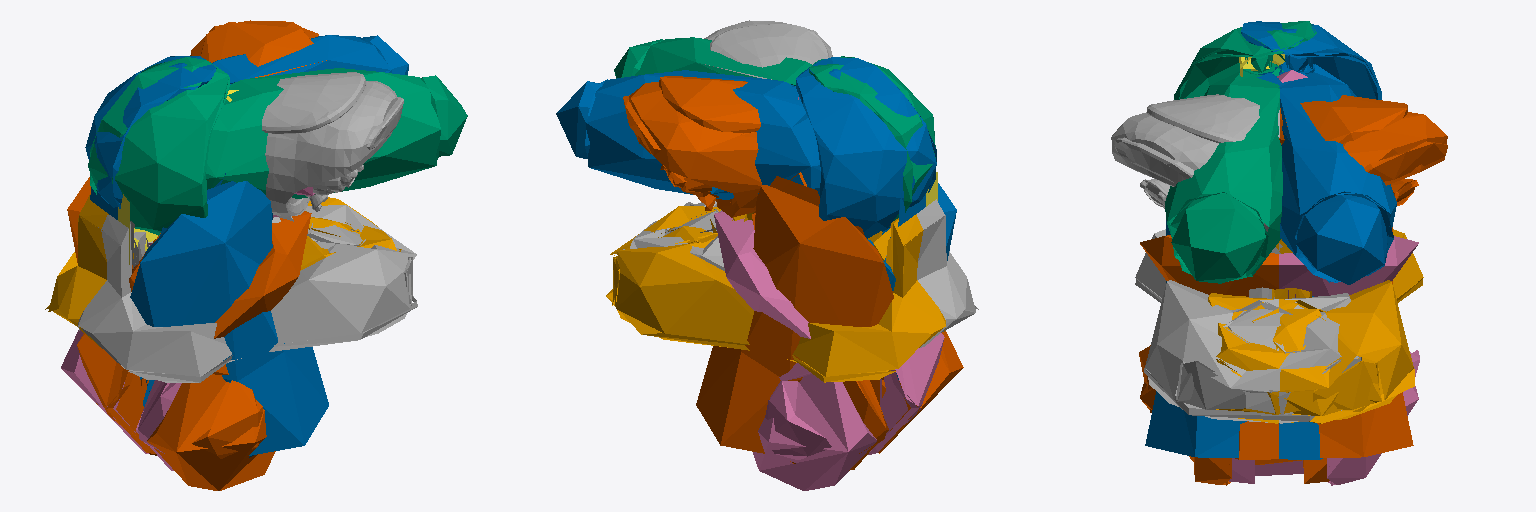
--- Facts derived from the render (not from the file) ---
3 views of the same robot in one strip: view 1: azimuth 30°, elevation 25°; view 2: azimuth 150°, elevation 25°; view 3: azimuth 270°, elevation 25° (orthographic).
Robot: NaoH25V50 — 79 links, 78 joints (26 revolute, 16 continuous, 36 fixed); root link base_link; default pose: joints at zero except 2 at the middle of their limits (LElbowRoll = -0.7898, RElbowRoll = 0.7898).
Links seen in each view (by area): view 1: RBicep, r_ankle, RThigh, RTibia, l_wrist, LBicep, l_ankle, r_wrist, LTibia, LThigh; view 2: LBicep, l_ankle, LThigh, LTibia, r_wrist, RBicep, r_ankle, l_wrist, RTibia, RThigh; view 3: LBicep, RBicep, r_ankle, l_ankle, l_wrist, r_wrist, LTibia, RThigh, LThigh, RTibia.
Boxes of the visible links, <box> form: RBicep: <box>88,57,467,235</box>; r_ankle: <box>78,205,417,382</box>; RThigh: <box>130,173,328,457</box>; RTibia: <box>77,211,311,490</box>; l_wrist: <box>262,72,403,216</box>; LBicep: <box>85,35,408,208</box>; l_ankle: <box>45,194,401,346</box>; r_wrist: <box>190,20,326,77</box>; LTibia: <box>61,330,181,470</box>; LThigh: <box>67,177,160,380</box>; LBicep: <box>556,57,936,238</box>; l_ankle: <box>606,206,945,382</box>; LThigh: <box>696,172,895,463</box>; LTibia: <box>714,211,944,490</box>; r_wrist: <box>623,76,761,217</box>; RBicep: <box>614,37,935,226</box>; r_ankle: <box>623,199,978,347</box>; l_wrist: <box>704,20,832,79</box>; RTibia: <box>843,331,963,470</box>; RThigh: <box>867,183,956,379</box>; LBicep: <box>1241,21,1396,284</box>; RBicep: <box>1165,21,1316,283</box>; r_ankle: <box>1135,229,1361,423</box>; l_ankle: <box>1208,229,1423,423</box>; l_wrist: <box>1111,94,1279,231</box>; r_wrist: <box>1279,95,1447,205</box>; LTibia: <box>1229,236,1419,485</box>; RThigh: <box>1145,220,1322,459</box>; LThigh: <box>1235,227,1413,459</box>; RTibia: <box>1139,235,1329,485</box>.
Bounding box of the posed robot: 1.85 × 1.34 × 1.96 m (x, y, z).
29 mesh visuals loaded from 39 distinct referenced files (29 binary STL); not drawn: 10 (reference not matched to a file when rendering).

robot.urdf — NaoH25V50:
<?xml version="1.0" ?>
<!-- =================================================================================== -->
<!-- |    This document was autogenerated by xacro from nao_robot.xacro                | -->
<!-- |    EDITING THIS FILE BY HAND IS NOT RECOMMENDED                                 | -->
<!-- =================================================================================== -->
<!--******************************************************************
 ****** File automatically generated by generate_urdf.py script ******
 *********************************************************************-->
<robot name="NaoH25V50" xmlns:xacro="http://www.ros.org/wiki/xacro">
  <joint name="HeadYaw" type="revolute">
    <parent link="torso"/>
    <child link="Neck"/>
    <origin rpy="0 0 0" xyz="0 0 0.1265"/>
    <axis xyz="0 0 1.0"/>
    <limit effort="1.547" lower="-2.08567" upper="2.08567" velocity="8.26797"/>
  </joint>
  <link name="Neck">
    <inertial>
      <mass value="0.07842"/>
      <inertia ixx="1.60324e-05" ixy="1.57e-09" ixz="3.16276e-09" iyy="1.70394e-05" iyz="-5.295e-08" izz="5.53372e-06"/>
      <origin rpy="0 0 0" xyz="-1e-05 0 -0.02742"/>
    </inertial>
    <visual>
      <geometry>
        <mesh filename="package://nao_meshes/meshes/V40/HeadYaw_0.10.stl" scale="0.1 0.1 0.1"/>
      </geometry>
      <origin rpy="0 0 0" xyz="0 0 0"/>
    </visual>
    <collision>
      <geometry>
        <mesh filename="package://nao_meshes/meshes/V40/HeadYaw_0.10.stl" scale="0.1 0.1 0.1"/>
      </geometry>
      <origin rpy="0 0 0" xyz="0 0 0"/>
    </collision>
  </link>
  <joint name="HeadPitch" type="revolute">
    <parent link="Neck"/>
    <child link="Head"/>
    <origin rpy="0 0 0" xyz="0 0 0"/>
    <axis xyz="0 1.0 0"/>
    <limit effort="1.532" lower="-0.671952" upper="0.514872" velocity="7.19407"/>
  </joint>
  <link name="Head">
    <inertial>
      <mass value="0.60533"/>
      <inertia ixx="0.000957766" ixy="8.78814e-06" ixz="5.33702e-06" iyy="0.000816836" iyz="-2.99579e-05" izz="0.000984976"/>
      <origin rpy="0 0 0" xyz="-0.00112 0 0.05258"/>
    </inertial>
    <visual>
      <geometry>
        <mesh filename="package://nao_meshes/meshes/V40/HeadPitch_0.10.stl" scale="0.1 0.1 0.1"/>
      </geometry>
      <origin rpy="0 0 0" xyz="0 0 0"/>
    </visual>
    <collision>
      <geometry>
        <mesh filename="package://nao_meshes/meshes/V40/HeadPitch_0.10.stl" scale="0.1 0.1 0.1"/>
      </geometry>
      <origin rpy="0 0 0" xyz="0 0 0"/>
    </collision>
  </link>
  <joint name="gaze_joint" type="fixed">
    <parent link="Head"/>
    <child link="gaze"/>
    <origin rpy="0 0 0" xyz="0.05871 0 0.06364"/>
  </joint>
  <link name="gaze"/>
  <joint name="LHipYawPitch" type="revolute">
    <parent link="torso"/>
    <child link="LPelvis"/>
    <origin rpy="0 0 0" xyz="0 0.05 -0.085"/>
    <axis xyz="0 0.707106 -0.707106"/>
    <limit effort="3.348" lower="-1.14529" upper="0.740718" velocity="4.16174"/>
  </joint>
  <link name="LPelvis">
    <inertial>
      <mass value="0.06981"/>
      <inertia ixx="2.3407e-05" ixy="1.07922e-06" ixz="-1.76003e-06" iyy="4.76355e-05" iyz="2.76058e-06" izz="4.97021e-05"/>
      <origin rpy="0 0 0" xyz="-0.00781 -0.01114 0.02661"/>
    </inertial>
    <visual>
      <geometry>
        <mesh filename="package://nao_meshes/meshes/V40/LHipYawPitch_0.10.stl" scale="0.1 0.1 0.1"/>
      </geometry>
      <origin rpy="0 0 0" xyz="0 0 0"/>
    </visual>
    <collision>
      <geometry>
        <mesh filename="package://nao_meshes/meshes/V40/LHipYawPitch_0.10.stl" scale="0.1 0.1 0.1"/>
      </geometry>
      <origin rpy="0 0 0" xyz="0 0 0"/>
    </collision>
  </link>
  <joint name="LHipRoll" type="revolute">
    <parent link="LPelvis"/>
    <child link="LHip"/>
    <origin rpy="0 0 0" xyz="0 0 0"/>
    <axis xyz="1.0 0 0"/>
    <limit effort="3.348" lower="-0.379435" upper="0.79046" velocity="4.16174"/>
  </joint>
  <link name="LHip">
    <inertial>
      <mass value="0.14053"/>
      <inertia ixx="2.38445e-05" ixy="-6.53605e-07" ixz="7.12893e-06" iyy="6.08246e-05" iyz="-2.14072e-07" izz="5.43691e-05"/>
      <origin rpy="0 0 0" xyz="-0.01549 0.00029 -0.00515"/>
    </inertial>
    <visual>
      <geometry>
        <mesh filename="package://nao_meshes/meshes/V40/LHipRoll_0.10.stl" scale="0.1 0.1 0.1"/>
      </geometry>
      <origin rpy="0 0 0" xyz="0 0 0"/>
    </visual>
    <collision>
      <geometry>
        <mesh filename="package://nao_meshes/meshes/V40/LHipRoll_0.10.stl" scale="0.1 0.1 0.1"/>
      </geometry>
      <origin rpy="0 0 0" xyz="0 0 0"/>
    </collision>
  </link>
  <joint name="LHipPitch" type="revolute">
    <parent link="LHip"/>
    <child link="LThigh"/>
    <origin rpy="0 0 0" xyz="0 0 0"/>
    <axis xyz="0 1.0 0"/>
    <limit effort="3.023" lower="-1.53589" upper="0.48398" velocity="6.40239"/>
  </joint>
  <link name="LThigh">
    <inertial>
      <mass value="0.38968"/>
      <inertia ixx="0.000509844" ixy="2.11296e-06" ixz="5.64129e-05" iyy="0.000465358" iyz="-7.91029e-06" izz="0.000301098"/>
      <origin rpy="0 0 0" xyz="0.00138 0.00221 -0.05373"/>
    </inertial>
    <visual>
      <geometry>
        <mesh filename="package://nao_meshes/meshes/V40/LHipPitch_0.10.stl" scale="0.1 0.1 0.1"/>
      </geometry>
      <origin rpy="0 0 0" xyz="0 0 0"/>
    </visual>
    <collision>
      <geometry>
        <mesh filename="package://nao_meshes/meshes/V40/LHipPitch_0.10.stl" scale="0.1 0.1 0.1"/>
      </geometry>
      <origin rpy="0 0 0" xyz="0 0 0"/>
    </collision>
  </link>
  <joint name="LKneePitch" type="revolute">
    <parent link="LThigh"/>
    <child link="LTibia"/>
    <origin rpy="0 0 0" xyz="0 0 -0.1"/>
    <axis xyz="0 1.0 0"/>
    <limit effort="3.023" lower="-0.0923279" upper="2.11255" velocity="6.40239"/>
  </joint>
  <link name="LTibia">
    <inertial>
      <mass value="0.30142"/>
      <inertia ixx="0.000446171" ixy="3.70584e-06" ixz="-3.09008e-05" iyy="0.000388084" iyz="6.01953e-06" izz="0.000185516"/>
      <origin rpy="0 0 0" xyz="0.00453 0.00225 -0.04936"/>
    </inertial>
    <visual>
      <geometry>
        <mesh filename="package://nao_meshes/meshes/V40/LKneePitch_0.10.stl" scale="0.1 0.1 0.1"/>
      </geometry>
      <origin rpy="0 0 0" xyz="0 0 0"/>
    </visual>
    <collision>
      <geometry>
        <mesh filename="package://nao_meshes/meshes/V40/LKneePitch_0.10.stl" scale="0.1 0.1 0.1"/>
      </geometry>
      <origin rpy="0 0 0" xyz="0 0 0"/>
    </collision>
  </link>
  <joint name="LAnklePitch" type="revolute">
    <parent link="LTibia"/>
    <child link="LAnklePitch"/>
    <origin rpy="0 0 0" xyz="0 0 -0.1029"/>
    <axis xyz="0 1.0 0"/>
    <limit effort="3.023" lower="-1.18944" upper="0.922581" velocity="6.40239"/>
  </joint>
  <link name="LAnklePitch">
    <inertial>
      <mass value="0.13416"/>
      <inertia ixx="3.22034e-05" ixy="-8.83212e-09" ixz="4.27549e-06" iyy="6.7943e-05" iyz="2.84849e-07" izz="5.48269e-05"/>
      <origin rpy="0 0 0" xyz="0.00045 0.00029 0.00685"/>
    </inertial>
    <visual>
      <geometry>
        <mesh filename="package://nao_meshes/meshes/V40/LAnklePitch_0.10.stl" scale="0.1 0.1 0.1"/>
      </geometry>
      <origin rpy="0 0 0" xyz="0 0 0"/>
    </visual>
    <collision>
      <geometry>
        <mesh filename="package://nao_meshes/meshes/V40/LAnklePitch_0.10.stl" scale="0.1 0.1 0.1"/>
      </geometry>
      <origin rpy="0 0 0" xyz="0 0 0"/>
    </collision>
  </link>
  <joint name="LAnkleRoll" type="revolute">
    <parent link="LAnklePitch"/>
    <child link="l_ankle"/>
    <origin rpy="0 0 0" xyz="0 0 0"/>
    <axis xyz="1.0 0 0"/>
    <limit effort="3.348" lower="-0.397761" upper="0.768992" velocity="4.16174"/>
  </joint>
  <link name="l_ankle">
    <inertial>
      <mass value="0.17184"/>
      <inertia ixx="8.72911e-05" ixy="8.71925e-06" ixz="-2.10563e-06" iyy="0.000353024" iyz="3.73459e-07" izz="0.000412846"/>
      <origin rpy="0 0 0" xyz="0.02542 0.0033 -0.03239"/>
    </inertial>
    <visual>
      <geometry>
        <mesh filename="package://nao_meshes/meshes/V40/LAnkleRoll_0.10.stl" scale="0.1 0.1 0.1"/>
      </geometry>
      <origin rpy="0 0 0" xyz="0 0 0"/>
    </visual>
    <collision>
      <geometry>
        <mesh filename="package://nao_meshes/meshes/V40/LAnkleRoll_0.10.stl" scale="0.1 0.1 0.1"/>
      </geometry>
      <origin rpy="0 0 0" xyz="0 0 0"/>
    </collision>
  </link>
  <joint name="LLeg_effector_fixedjoint" type="fixed">
    <parent link="l_ankle"/>
    <child link="l_sole"/>
    <origin rpy="0 0 0" xyz="0 0 -0.04511"/>
    <axis xyz="0 0 0"/>
  </joint>
  <link name="l_sole"/>
  <joint name="RHipYawPitch" type="revolute">
    <parent link="torso"/>
    <child link="RPelvis"/>
    <origin rpy="0 0 0" xyz="0 -0.05 -0.085"/>
    <axis xyz="0 0.707106 0.707106"/>
    <limit effort="3.348" lower="-1.14529" upper="0.740718" velocity="4.16174"/>
    <mimic joint="LHipYawPitch" multiplier="1.0" offset="0"/>
  </joint>
  <link name="RPelvis">
    <inertial>
      <mass value="0.06981"/>
      <inertia ixx="3.18766e-05" ixy="-1.07152e-06" ixz="-1.77295e-06" iyy="5.18361e-05" iyz="-7.00664e-06" izz="5.39657e-05"/>
      <origin rpy="0 0 0" xyz="-0.00781 0.01114 0.02661"/>
    </inertial>
    <visual>
      <geometry>
        <mesh filename="package://nao_meshes/meshes/V40/RHipYawPitch_0.10.stl" scale="0.1 0.1 0.1"/>
      </geometry>
      <origin rpy="0 0 0" xyz="0 0 0"/>
    </visual>
    <collision>
      <geometry>
        <mesh filename="package://nao_meshes/meshes/V40/RHipYawPitch_0.10.stl" scale="0.1 0.1 0.1"/>
      </geometry>
      <origin rpy="0 0 0" xyz="0 0 0"/>
    </collision>
  </link>
  <joint name="RHipRoll" type="revolute">
    <parent link="RPelvis"/>
    <child link="RHip"/>
    <origin rpy="0 0 0" xyz="0 0 0"/>
    <axis xyz="1.0 0 0"/>
    <limit effort="3.348" lower="-0.79046" upper="0.379435" velocity="4.16174"/>
  </joint>
  <link name="RHip">
    <inertial>
      <mass value="0.14053"/>
      <inertia ixx="2.38475e-05" ixy="6.12085e-07" ixz="7.10235e-06" iyy="6.0824e-05" iyz="2.12392e-07" izz="5.43727e-05"/>
      <origin rpy="0 0 0" xyz="-0.01549 -0.00029 -0.00515"/>
    </inertial>
    <visual>
      <geometry>
        <mesh filename="package://nao_meshes/meshes/V40/RHipRoll_0.10.stl" scale="0.1 0.1 0.1"/>
      </geometry>
      <origin rpy="0 0 0" xyz="0 0 0"/>
    </visual>
    <collision>
      <geometry>
        <mesh filename="package://nao_meshes/meshes/V40/RHipRoll_0.10.stl" scale="0.1 0.1 0.1"/>
      </geometry>
      <origin rpy="0 0 0" xyz="0 0 0"/>
    </collision>
  </link>
  <joint name="RHipPitch" type="revolute">
    <parent link="RHip"/>
    <child link="RThigh"/>
    <origin rpy="0 0 0" xyz="0 0 0"/>
    <axis xyz="0 1.0 0"/>
    <limit effort="3.0226" lower="-1.53589" upper="0.48398" velocity="6.40239"/>
  </joint>
  <link name="RThigh">
    <inertial>
      <mass value="0.38968"/>
      <inertia ixx="0.000510607" ixy="-2.02799e-06" ixz="5.69893e-05" iyy="0.0004665" iyz="7.09563e-06" izz="0.000301333"/>
      <origin rpy="0 0 0" xyz="0.00138 -0.00221 -0.05373"/>
    </inertial>
    <visual>
      <geometry>
        <mesh filename="package://nao_meshes/meshes/V40/RHipPitch_0.10.stl" scale="0.1 0.1 0.1"/>
      </geometry>
      <origin rpy="0 0 0" xyz="0 0 0"/>
    </visual>
    <collision>
      <geometry>
        <mesh filename="package://nao_meshes/meshes/V40/RHipPitch_0.10.stl" scale="0.1 0.1 0.1"/>
      </geometry>
      <origin rpy="0 0 0" xyz="0 0 0"/>
    </collision>
  </link>
  <joint name="RKneePitch" type="revolute">
    <parent link="RThigh"/>
    <child link="RTibia"/>
    <origin rpy="0 0 0" xyz="0 0 -0.1"/>
    <axis xyz="0 1.0 0"/>
    <limit effort="3.0226" lower="-0.0923279" upper="2.11255" velocity="6.40239"/>
  </joint>
  <link name="RTibia">
    <inertial>
      <mass value="0.30142"/>
      <inertia ixx="0.000446921" ixy="-3.96872e-06" ixz="-3.94009e-05" iyy="0.000387711" iyz="-5.00034e-06" izz="0.000183741"/>
      <origin rpy="0 0 0" xyz="0.00453 -0.00225 -0.04936"/>
    </inertial>
    <visual>
      <geometry>
        <mesh filename="package://nao_meshes/meshes/V40/RKneePitch_0.10.stl" scale="0.1 0.1 0.1"/>
      </geometry>
      <origin rpy="0 0 0" xyz="0 0 0"/>
    </visual>
    <collision>
      <geometry>
        <mesh filename="package://nao_meshes/meshes/V40/RKneePitch_0.10.stl" scale="0.1 0.1 0.1"/>
      </geometry>
      <origin rpy="0 0 0" xyz="0 0 0"/>
    </collision>
  </link>
  <joint name="RAnklePitch" type="revolute">
    <parent link="RTibia"/>
    <child link="RAnklePitch"/>
    <origin rpy="0 0 0" xyz="0 0 -0.1029"/>
    <axis xyz="0 1.0 0"/>
    <limit effort="3.0226" lower="-1.1863" upper="0.932006" velocity="6.40239"/>
  </joint>
  <link name="RAnklePitch">
    <inertial>
      <mass value="0.13416"/>
      <inertia ixx="3.22017e-05" ixy="4.68321e-08" ixz="4.28821e-06" iyy="6.79885e-05" iyz="-2.71089e-07" izz="5.48747e-05"/>
      <origin rpy="0 0 0" xyz="0.00045 -0.00029 0.00685"/>
    </inertial>
    <visual>
      <geometry>
        <mesh filename="package://nao_meshes/meshes/V40/RAnklePitch_0.10.stl" scale="0.1 0.1 0.1"/>
      </geometry>
      <origin rpy="0 0 0" xyz="0 0 0"/>
    </visual>
    <collision>
      <geometry>
        <mesh filename="package://nao_meshes/meshes/V40/RAnklePitch_0.10.stl" scale="0.1 0.1 0.1"/>
      </geometry>
      <origin rpy="0 0 0" xyz="0 0 0"/>
    </collision>
  </link>
  <joint name="RAnkleRoll" type="revolute">
    <parent link="RAnklePitch"/>
    <child link="r_ankle"/>
    <origin rpy="0 0 0" xyz="0 0 0"/>
    <axis xyz="1.0 0 0"/>
    <limit effort="3.348" lower="-0.768992" upper="0.397761" velocity="4.16174"/>
  </joint>
  <link name="r_ankle">
    <inertial>
      <mass value="0.17184"/>
      <inertia ixx="8.71513e-05" ixy="-8.53992e-06" ixz="-2.35184e-06" iyy="0.000352156" iyz="-4.81708e-07" izz="0.000412125"/>
      <origin rpy="0 0 0" xyz="0.02542 -0.0033 -0.03239"/>
    </inertial>
    <visual>
      <geometry>
        <mesh filename="package://nao_meshes/meshes/V40/RAnkleRoll_0.10.stl" scale="0.1 0.1 0.1"/>
      </geometry>
      <origin rpy="0 0 0" xyz="0 0 0"/>
    </visual>
    <collision>
      <geometry>
        <mesh filename="package://nao_meshes/meshes/V40/RAnkleRoll_0.10.stl" scale="0.1 0.1 0.1"/>
      </geometry>
      <origin rpy="0 0 0" xyz="0 0 0"/>
    </collision>
  </link>
  <joint name="RLeg_effector_fixedjoint" type="fixed">
    <parent link="r_ankle"/>
    <child link="r_sole"/>
    <origin rpy="0 0 0" xyz="0 0 -0.04511"/>
    <axis xyz="0 0 0"/>
  </joint>
  <link name="r_sole"/>
  <link name="base_link"/>
  <joint name="base_link_fixedjoint" type="fixed">
    <parent link="base_link"/>
    <child link="torso"/>
    <origin rpy="0 0 0" xyz="0 0 0"/>
    <axis xyz="0 0 0"/>
  </joint>
  <link name="torso">
    <inertial>
      <mass value="1.04956"/>
      <inertia ixx="0.00308361" ixy="1.43116e-05" ixz="-3.30211e-05" iyy="0.0028835" iyz="-2.70793e-05" izz="0.0015924"/>
      <origin rpy="0 0 0" xyz="-0.00413 0 0.04342"/>
    </inertial>
    <visual>
      <geometry>
        <mesh filename="package://nao_meshes/meshes/V40/Torso_0.10.stl" scale="0.1 0.1 0.1"/>
      </geometry>
      <origin rpy="0 0 0" xyz="0 0 0"/>
    </visual>
    <collision>
      <geometry>
        <mesh filename="package://nao_meshes/meshes/V40/Torso_0.10.stl" scale="0.1 0.1 0.1"/>
      </geometry>
      <origin rpy="0 0 0" xyz="0 0 0"/>
    </collision>
  </link>
  <joint name="LShoulderPitch" type="revolute">
    <parent link="torso"/>
    <child link="LShoulder"/>
    <origin rpy="0 0 0" xyz="0 0.098 0.1"/>
    <axis xyz="0 1.0 0"/>
    <limit effort="1.329" lower="-2.08567" upper="2.08567" velocity="8.26797"/>
  </joint>
  <link name="LShoulder">
    <inertial>
      <mass value="0.09304"/>
      <inertia ixx="1.83025e-05" ixy="2.06011e-06" ixz="1.88776e-09" iyy="1.39005e-05" iyz="-3.66592e-07" izz="2.01862e-05"/>
      <origin rpy="0 0 0" xyz="-0.00165 -0.02663 0.00014"/>
    </inertial>
    <visual>
      <geometry>
        <mesh filename="package://nao_meshes/meshes/V40/LShoulderPitch_0.10.stl" scale="0.1 0.1 0.1"/>
      </geometry>
      <origin rpy="0 0 0" xyz="0 0 0"/>
    </visual>
    <collision>
      <geometry>
        <mesh filename="package://nao_meshes/meshes/V40/LShoulderPitch_0.10.stl" scale="0.1 0.1 0.1"/>
      </geometry>
      <origin rpy="0 0 0" xyz="0 0 0"/>
    </collision>
  </link>
  <joint name="LShoulderRoll" type="revolute">
    <parent link="LShoulder"/>
    <child link="LBicep"/>
    <origin rpy="0 0 0" xyz="0 0 0"/>
    <axis xyz="0 0 1.0"/>
    <limit effort="1.7835" lower="-0.314159" upper="1.32645" velocity="7.19407"/>
  </joint>
  <link name="LBicep">
    <inertial>
      <mass value="0.15777"/>
      <inertia ixx="8.7181e-05" ixy="-2.53381e-05" ixz="-1.4213e-05" iyy="0.000274712" iyz="4.71439e-07" izz="0.000241812"/>
      <origin rpy="0 0 0" xyz="0.02455 0.00563 0.0033"/>
    </inertial>
    <visual>
      <geometry>
        <mesh filename="package://nao_meshes/meshes/V40/LShoulderRoll_0.10.stl" scale="0.1 0.1 0.1"/>
      </geometry>
      <origin rpy="0 0 0" xyz="0 0 0"/>
    </visual>
    <collision>
      <geometry>
        <mesh filename="package://nao_meshes/meshes/V40/LShoulderRoll_0.10.stl" scale="0.1 0.1 0.1"/>
      </geometry>
      <origin rpy="0 0 0" xyz="0 0 0"/>
    </collision>
  </link>
  <joint name="LElbowYaw" type="revolute">
    <parent link="LBicep"/>
    <child link="LElbow"/>
    <origin rpy="0 0 0" xyz="0.105 0.015 0"/>
    <axis xyz="1.0 0 0"/>
    <limit effort="1.547" lower="-2.08567" upper="2.08567" velocity="8.26797"/>
  </joint>
  <link name="LElbow">
    <inertial>
      <mass value="0.06483"/>
      <inertia ixx="5.59588e-06" ixy="4.21e-09" ixz="2.92241e-07" iyy="2.66179e-05" iyz="-1.84e-09" izz="2.76294e-05"/>
      <origin rpy="0 0 0" xyz="-0.02744 0 -0.00014"/>
    </inertial>
  </link>
  <joint name="LElbowRoll" type="revolute">
    <parent link="LElbow"/>
    <child link="LForeArm"/>
    <origin rpy="0 0 0" xyz="0 0 0"/>
    <axis xyz="0 0 1.0"/>
    <limit effort="1.532" lower="-1.54462" upper="-0.0349066" velocity="7.19407"/>
  </joint>
  <link name="LForeArm">
    <inertial>
      <mass value="0.07761"/>
      <inertia ixx="2.46746e-05" ixy="3.23152e-06" ixz="1.58221e-06" iyy="3.83837e-05" iyz="1.39194e-07" izz="3.59708e-05"/>
      <origin rpy="0 0 0" xyz="0.02556 0.00281 0.00076"/>
    </inertial>
    <visual>
      <geometry>
        <mesh filename="package://nao_meshes/meshes/V40/LElbowRoll_0.10.stl" scale="0.1 0.1 0.1"/>
      </geometry>
      <origin rpy="0 0 0" xyz="0 0 0"/>
    </visual>
    <collision>
      <geometry>
        <mesh filename="package://nao_meshes/meshes/V40/LElbowRoll_0.10.stl" scale="0.1 0.1 0.1"/>
      </geometry>
      <origin rpy="0 0 0" xyz="0 0 0"/>
    </collision>
  </link>
  <joint name="LWristYaw" type="revolute">
    <parent link="LForeArm"/>
    <child link="l_wrist"/>
    <origin rpy="0 0 0" xyz="0.05595 0 0"/>
    <axis xyz="1.0 0 0"/>
    <limit effort="0.4075" lower="-1.82387" upper="1.82387" velocity="24.6229"/>
  </joint>
  <link name="l_wrist">
    <inertial>
      <mass value="0.18533"/>
      <inertia ixx="6.86477e-05" ixy="1.15465e-07" ixz="-2.87254e-06" iyy="0.000135756" iyz="2.67539e-06" izz="0.000133228"/>
      <origin rpy="0 0 0" xyz="0.03434 -0.00088 0.00308"/>
    </inertial>
    <visual>
      <geometry>
        <mesh filename="package://nao_meshes/meshes/V40/LWristYaw_0.10.stl" scale="0.1 0.1 0.1"/>
      </geometry>
      <origin rpy="0 0 0" xyz="0 0 0"/>
    </visual>
    <collision>
      <geometry>
        <mesh filename="package://nao_meshes/meshes/V40/LWristYaw_0.10.stl" scale="0.1 0.1 0.1"/>
      </geometry>
      <origin rpy="0 0 0" xyz="0 0 0"/>
    </collision>
  </link>
  <joint name="LHand" type="revolute">
    <parent link="l_wrist"/>
    <child link="l_gripper"/>
    <origin rpy="0 0 0" xyz="0.05775 0 -0.01231"/>
    <axis xyz="1.0 0 0"/>
    <limit effort="0.292" lower="0" upper="1.0" velocity="8.33"/>
  </joint>
  <link name="l_gripper">
    <inertial>
      <mass value="2e-06"/>
      <inertia ixx="1.1e-09" ixy="0" ixz="0" iyy="1.1e-09" iyz="0" izz="1.1e-09"/>
    </inertial>
  </link>
  <joint name="RShoulderPitch" type="revolute">
    <parent link="torso"/>
    <child link="RShoulder"/>
    <origin rpy="0 0 0" xyz="0 -0.098 0.1"/>
    <axis xyz="0 1.0 0"/>
    <limit effort="1.329" lower="-2.08567" upper="2.08567" velocity="8.26797"/>
  </joint>
  <link name="RShoulder">
    <inertial>
      <mass value="0.09304"/>
      <inertia ixx="1.83025e-05" ixy="-2.06011e-06" ixz="1.88776e-09" iyy="1.39005e-05" iyz="3.66592e-07" izz="2.01862e-05"/>
      <origin rpy="0 0 0" xyz="-0.00165 0.02663 0.00014"/>
    </inertial>
    <visual>
      <geometry>
        <mesh filename="package://nao_meshes/meshes/V40/RShoulderPitch_0.10.stl" scale="0.1 0.1 0.1"/>
      </geometry>
      <origin rpy="0 0 0" xyz="0 0 0"/>
    </visual>
    <collision>
      <geometry>
        <mesh filename="package://nao_meshes/meshes/V40/RShoulderPitch_0.10.stl" scale="0.1 0.1 0.1"/>
      </geometry>
      <origin rpy="0 0 0" xyz="0 0 0"/>
    </collision>
  </link>
  <joint name="RShoulderRoll" type="revolute">
    <parent link="RShoulder"/>
    <child link="RBicep"/>
    <origin rpy="0 0 0" xyz="0 0 0"/>
    <axis xyz="0 0 1.0"/>
    <limit effort="1.783" lower="-1.32645" upper="0.314159" velocity="7.19407"/>
  </joint>
  <link name="RBicep">
    <inertial>
      <mass value="0.15777"/>
      <inertia ixx="0.000103401" ixy="5.48849e-05" ixz="-1.32643e-05" iyy="0.00027077" iyz="9.16707e-06" izz="0.000254529"/>
      <origin rpy="0 0 0" xyz="0.02455 -0.00563 0.0033"/>
    </inertial>
    <visual>
      <geometry>
        <mesh filename="package://nao_meshes/meshes/V40/RShoulderRoll_0.10.stl" scale="0.1 0.1 0.1"/>
      </geometry>
      <origin rpy="0 0 0" xyz="0 0 0"/>
    </visual>
    <collision>
      <geometry>
        <mesh filename="package://nao_meshes/meshes/V40/RShoulderRoll_0.10.stl" scale="0.1 0.1 0.1"/>
      </geometry>
      <origin rpy="0 0 0" xyz="0 0 0"/>
    </collision>
  </link>
  <joint name="RElbowYaw" type="revolute">
    <parent link="RBicep"/>
    <child link="RElbow"/>
    <origin rpy="0 0 0" xyz="0.105 -0.015 0"/>
    <axis xyz="1.0 0 0"/>
    <limit effort="1.547" lower="-2.08567" upper="2.08567" velocity="8.26797"/>
  </joint>
  <link name="RElbow">
    <inertial>
      <mass value="0.06483"/>
      <inertia ixx="5.59588e-06" ixy="4.21e-09" ixz="2.92241e-07" iyy="2.66179e-05" iyz="-1.84e-09" izz="2.76294e-05"/>
      <origin rpy="0 0 0" xyz="-0.02744 0 -0.00014"/>
    </inertial>
  </link>
  <joint name="RElbowRoll" type="revolute">
    <parent link="RElbow"/>
    <child link="RForeArm"/>
    <origin rpy="0 0 0" xyz="0 0 0"/>
    <axis xyz="0 0 1.0"/>
    <limit effort="1.532" lower="0.0349066" upper="1.54462" velocity="7.19407"/>
  </joint>
  <link name="RForeArm">
    <inertial>
      <mass value="0.07761"/>
      <inertia ixx="2.47331e-05" ixy="-3.2418e-06" ixz="9.06451e-07" iyy="3.84719e-05" iyz="-1.38804e-07" izz="3.59319e-05"/>
      <origin rpy="0 0 0" xyz="0.02556 -0.00281 0.00076"/>
    </inertial>
    <visual>
      <geometry>
        <mesh filename="package://nao_meshes/meshes/V40/RElbowRoll_0.10.stl" scale="0.1 0.1 0.1"/>
      </geometry>
      <origin rpy="0 0 0" xyz="0 0 0"/>
    </visual>
    <collision>
      <geometry>
        <mesh filename="package://nao_meshes/meshes/V40/RElbowRoll_0.10.stl" scale="0.1 0.1 0.1"/>
      </geometry>
      <origin rpy="0 0 0" xyz="0 0 0"/>
    </collision>
  </link>
  <joint name="RWristYaw" type="revolute">
    <parent link="RForeArm"/>
    <child link="r_wrist"/>
    <origin rpy="0 0 0" xyz="0.05595 0 0"/>
    <axis xyz="1.0 0 0"/>
    <limit effort="0.4075" lower="-1.82387" upper="1.82387" velocity="24.6229"/>
  </joint>
  <link name="r_wrist">
    <inertial>
      <mass value="0.18533"/>
      <inertia ixx="6.86477e-05" ixy="1.13165e-05" ixz="-2.87254e-06" iyy="0.000135756" iyz="3.68003e-06" izz="0.000133228"/>
      <origin rpy="0 0 0" xyz="0.03434 0.00088 0.00308"/>
    </inertial>
    <visual>
      <geometry>
        <mesh filename="package://nao_meshes/meshes/V40/RWristYaw_0.10.stl" scale="0.1 0.1 0.1"/>
      </geometry>
      <origin rpy="0 0 0" xyz="0 0 0"/>
    </visual>
    <collision>
      <geometry>
        <mesh filename="package://nao_meshes/meshes/V40/RWristYaw_0.10.stl" scale="0.1 0.1 0.1"/>
      </geometry>
      <origin rpy="0 0 0" xyz="0 0 0"/>
    </collision>
  </link>
  <joint name="RHand" type="revolute">
    <parent link="r_wrist"/>
    <child link="r_gripper"/>
    <origin rpy="0 0 0" xyz="0.05775 0 -0.01213"/>
    <axis xyz="1.0 0 0"/>
    <limit effort="0.292" lower="0" upper="1.0" velocity="8.33"/>
  </joint>
  <link name="r_gripper">
    <inertial>
      <mass value="2e-06"/>
      <inertia ixx="1.1e-09" ixy="0" ixz="0" iyy="1.1e-09" iyz="0" izz="1.1e-09"/>
    </inertial>
  </link>
  <link name="LFootBumperRight_frame"/>
  <joint name="LFoot/Bumper/Right_sensor_fixedjoint" type="fixed">
    <parent link="l_ankle"/>
    <child link="LFootBumperRight_frame"/>
    <origin rpy="0 0 0" xyz="0.0876 -0.014 -0.0353"/>
    <axis xyz="0 0 0"/>
  </joint>
  <link name="RFsrRL_frame">
    <collision>
      <geometry>
        <box size="0.01 0.01 0.005"/>
      </geometry>
      <origin rpy="0 0 0" xyz="0 0 0"/>
    </collision>
    <inertial>
      <mass value="2e-06"/>
      <inertia ixx="1.1e-09" ixy="0" ixz="0" iyy="1.1e-09" iyz="0" izz="1.1e-09"/>
    </inertial>
  </link>
  <joint name="RFoot/FSR/RearLeft_sensor_fixedjoint" type="fixed">
    <parent link="r_ankle"/>
    <child link="RFsrRL_frame"/>
    <origin rpy="0 0 0" xyz="-0.03025 0.0191 -0.04511"/>
    <axis xyz="0 0 0"/>
  </joint>
  <link name="CameraBottom_optical_frame"/>
  <joint name="CameraBottom_optical_frame_fixedjoint" type="fixed">
    <parent link="CameraBottom_frame"/>
    <child link="CameraBottom_optical_frame"/>
    <origin rpy="-1.57079632679 0 -1.57079632679" xyz="0 0 0"/>
  </joint>
  <link name="RFsrRR_frame">
    <collision>
      <geometry>
        <box size="0.01 0.01 0.005"/>
      </geometry>
      <origin rpy="0 0 0" xyz="0 0 0"/>
    </collision>
    <inertial>
      <mass value="2e-06"/>
      <inertia ixx="1.1e-09" ixy="0" ixz="0" iyy="1.1e-09" iyz="0" izz="1.1e-09"/>
    </inertial>
  </link>
  <joint name="RFoot/FSR/RearRight_sensor_fixedjoint" type="fixed">
    <parent link="r_ankle"/>
    <child link="RFsrRR_frame"/>
    <origin rpy="0 0 0" xyz="-0.02965 -0.0299 -0.04511"/>
    <axis xyz="0 0 0"/>
  </joint>
  <link name="LFsrFR_frame">
    <collision>
      <geometry>
        <box size="0.01 0.01 0.005"/>
      </geometry>
      <origin rpy="0 0 0" xyz="0 0 0"/>
    </collision>
    <inertial>
      <mass value="2e-06"/>
      <inertia ixx="1.1e-09" ixy="0" ixz="0" iyy="1.1e-09" iyz="0" izz="1.1e-09"/>
    </inertial>
  </link>
  <joint name="LFoot/FSR/FrontRight_sensor_fixedjoint" type="fixed">
    <parent link="l_ankle"/>
    <child link="LFsrFR_frame"/>
    <origin rpy="0 0 0" xyz="0.07025 -0.0231 -0.04511"/>
    <axis xyz="0 0 0"/>
  </joint>
  <link name="LHandTouchLeft_frame"/>
  <joint name="LHand/Touch/Left_sensor_fixedjoint" type="fixed">
    <parent link="l_wrist"/>
    <child link="LHandTouchLeft_frame"/>
    <origin rpy="0 0 1.5708" xyz="0.032 0.025 0.003"/>
    <axis xyz="0 0 0"/>
  </joint>
  <link name="RFootBumperRight_frame"/>
  <joint name="RFoot/Bumper/Right_sensor_fixedjoint" type="fixed">
    <parent link="r_ankle"/>
    <child link="RFootBumperRight_frame"/>
    <origin rpy="0 0 0" xyz="0.0876 -0.019 -0.0353"/>
    <axis xyz="0 0 0"/>
  </joint>
  <link name="RFsrFR_frame">
    <collision>
      <geometry>
        <box size="0.01 0.01 0.005"/>
      </geometry>
      <origin rpy="0 0 0" xyz="0 0 0"/>
    </collision>
    <inertial>
      <mass value="2e-06"/>
      <inertia ixx="1.1e-09" ixy="0" ixz="0" iyy="1.1e-09" iyz="0" izz="1.1e-09"/>
    </inertial>
  </link>
  <joint name="RFoot/FSR/FrontRight_sensor_fixedjoint" type="fixed">
    <parent link="r_ankle"/>
    <child link="RFsrFR_frame"/>
    <origin rpy="0 0 0" xyz="0.07025 -0.0299 -0.04511"/>
    <axis xyz="0 0 0"/>
  </joint>
  <link name="LFsrRR_frame">
    <collision>
      <geometry>
        <box size="0.01 0.01 0.005"/>
      </geometry>
      <origin rpy="0 0 0" xyz="0 0 0"/>
    </collision>
    <inertial>
      <mass value="2e-06"/>
      <inertia ixx="1.1e-09" ixy="0" ixz="0" iyy="1.1e-09" iyz="0" izz="1.1e-09"/>
    </inertial>
  </link>
  <joint name="LFoot/FSR/RearRight_sensor_fixedjoint" type="fixed">
    <parent link="l_ankle"/>
    <child link="LFsrRR_frame"/>
    <origin rpy="0 0 0" xyz="-0.02965 -0.0191 -0.04511"/>
    <axis xyz="0 0 0"/>
  </joint>
  <link name="ImuTorsoAccelerometer_frame"/>
  <joint name="Accelerometer_sensor_fixedjoint" type="fixed">
    <parent link="torso"/>
    <child link="ImuTorsoAccelerometer_frame"/>
    <origin rpy="0 0 0" xyz="-0.008 0.00606 0.027"/>
    <axis xyz="0 0 0"/>
  </joint>
  <link name="HeadTouchFront_frame"/>
  <joint name="Head/Touch/Front_sensor_fixedjoint" type="fixed">
    <parent link="Head"/>
    <child link="HeadTouchFront_frame"/>
    <origin rpy="0 -1.1861 0" xyz="0.0312 0 0.1014"/>
    <axis xyz="0 0 0"/>
  </joint>
  <link name="RFootBumperLeft_frame"/>
  <joint name="RFoot/Bumper/Left_sensor_fixedjoint" type="fixed">
    <parent link="r_ankle"/>
    <child link="RFootBumperLeft_frame"/>
    <origin rpy="0 0 0" xyz="0.0876 0.014 -0.0353"/>
    <axis xyz="0 0 0"/>
  </joint>
  <link name="RSonar_frame"/>
  <joint name="Sonar/Right_sensor_fixedjoint" type="fixed">
    <parent link="torso"/>
    <child link="RSonar_frame"/>
    <origin rpy="0.00478508 0.0436497 -0.392441" xyz="0.00558253 -0.0192068 0.0623853"/>
    <axis xyz="0 0 0"/>
  </joint>
  <link name="RHandTouchRight_frame"/>
  <joint name="RHand/Touch/Right_sensor_fixedjoint" type="fixed">
    <parent link="r_wrist"/>
    <child link="RHandTouchRight_frame"/>
    <origin rpy="0 0 -1.5708" xyz="0.035 -0.025 0.0035"/>
    <axis xyz="0 0 0"/>
  </joint>
  <link name="RHandTouchBack_frame"/>
  <joint name="RHand/Touch/Back_sensor_fixedjoint" type="fixed">
    <parent link="r_wrist"/>
    <child link="RHandTouchBack_frame"/>
    <origin rpy="3.14159 -1.5708 3.14159" xyz="0.038 0 0.025"/>
    <axis xyz="0 0 0"/>
  </joint>
  <link name="RFsrFL_frame">
    <collision>
      <geometry>
        <box size="0.01 0.01 0.005"/>
      </geometry>
      <origin rpy="0 0 0" xyz="0 0 0"/>
    </collision>
    <inertial>
      <mass value="2e-06"/>
      <inertia ixx="1.1e-09" ixy="0" ixz="0" iyy="1.1e-09" iyz="0" izz="1.1e-09"/>
    </inertial>
  </link>
  <joint name="RFoot/FSR/FrontLeft_sensor_fixedjoint" type="fixed">
    <parent link="r_ankle"/>
    <child link="RFsrFL_frame"/>
    <origin rpy="0 0 0" xyz="0.07025 0.0231 -0.04511"/>
    <axis xyz="0 0 0"/>
  </joint>
  <link name="LSonar_frame"/>
  <joint name="Sonar/Left_sensor_fixedjoint" type="fixed">
    <parent link="torso"/>
    <child link="LSonar_frame"/>
    <origin rpy="-0.00478508 0.0436497 0.392441" xyz="0.00558253 0.0192068 0.0623853"/>
    <axis xyz="0 0 0"/>
  </joint>
  <link name="LFsrFL_frame">
    <collision>
      <geometry>
        <box size="0.01 0.01 0.005"/>
      </geometry>
      <origin rpy="0 0 0" xyz="0 0 0"/>
    </collision>
    <inertial>
      <mass value="2e-06"/>
      <inertia ixx="1.1e-09" ixy="0" ixz="0" iyy="1.1e-09" iyz="0" izz="1.1e-09"/>
    </inertial>
  </link>
  <joint name="LFoot/FSR/FrontLeft_sensor_fixedjoint" type="fixed">
    <parent link="l_ankle"/>
    <child link="LFsrFL_frame"/>
    <origin rpy="0 0 0" xyz="0.07025 0.0299 -0.04511"/>
    <axis xyz="0 0 0"/>
  </joint>
  <link name="LFsrRL_frame">
    <collision>
      <geometry>
        <box size="0.01 0.01 0.005"/>
      </geometry>
      <origin rpy="0 0 0" xyz="0 0 0"/>
    </collision>
    <inertial>
      <mass value="2e-06"/>
      <inertia ixx="1.1e-09" ixy="0" ixz="0" iyy="1.1e-09" iyz="0" izz="1.1e-09"/>
    </inertial>
  </link>
  <joint name="LFoot/FSR/RearLeft_sensor_fixedjoint" type="fixed">
    <parent link="l_ankle"/>
    <child link="LFsrRL_frame"/>
    <origin rpy="0 0 0" xyz="-0.03025 0.0299 -0.04511"/>
    <axis xyz="0 0 0"/>
  </joint>
  <link name="RHandTouchLeft_frame"/>
  <joint name="RHand/Touch/Left_sensor_fixedjoint" type="fixed">
    <parent link="r_wrist"/>
    <child link="RHandTouchLeft_frame"/>
    <origin rpy="0 0 1.5708" xyz="0.032 0.025 0.003"/>
    <axis xyz="0 0 0"/>
  </joint>
  <link name="CameraBottom_frame"/>
  <joint name="CameraBottom_sensor_fixedjoint" type="fixed">
    <parent link="Head"/>
    <child link="CameraBottom_frame"/>
    <origin rpy="0 0.692896 0" xyz="0.05071 0 0.01774"/>
    <axis xyz="0 0 0"/>
  </joint>
  <link name="CameraTop_frame"/>
  <joint name="CameraTop_sensor_fixedjoint" type="fixed">
    <parent link="Head"/>
    <child link="CameraTop_frame"/>
    <origin rpy="0 0.0209435 0" xyz="0.05871 0 0.06364"/>
    <axis xyz="0 0 0"/>
  </joint>
  <link name="CameraTop_optical_frame"/>
  <joint name="CameraTop_optical_frame_fixedjoint" type="fixed">
    <parent link="CameraTop_frame"/>
    <child link="CameraTop_optical_frame"/>
    <origin rpy="-1.57079632679 0 -1.57079632679" xyz="0 0 0"/>
  </joint>
  <link name="LHandTouchBack_frame"/>
  <joint name="LHand/Touch/Back_sensor_fixedjoint" type="fixed">
    <parent link="l_wrist"/>
    <child link="LHandTouchBack_frame"/>
    <origin rpy="3.14159 -1.5708 3.14159" xyz="0.038 0 0.025"/>
    <axis xyz="0 0 0"/>
  </joint>
  <link name="LInfraRed_frame"/>
  <joint name="InfraredL_sensor_fixedjoint" type="fixed">
    <parent link="Head"/>
    <child link="LInfraRed_frame"/>
    <origin rpy="0 0 0" xyz="0.0441 0.0257 0.0466"/>
    <axis xyz="0 0 0"/>
  </joint>
  <link name="ImuTorsoGyrometer_frame"/>
  <joint name="Gyrometer_sensor_fixedjoint" type="fixed">
    <parent link="torso"/>
    <child link="ImuTorsoGyrometer_frame"/>
    <origin rpy="0 0 0" xyz="-0.008 0.006 0.029"/>
    <axis xyz="0 0 0"/>
  </joint>
  <link name="HeadTouchRear_frame"/>
  <joint name="Head/Touch/Rear_sensor_fixedjoint" type="fixed">
    <parent link="Head"/>
    <child link="HeadTouchRear_frame"/>
    <origin rpy="3.14159 -1.33319 -3.14159" xyz="-0.0257 0 0.1045"/>
    <axis xyz="0 0 0"/>
  </joint>
  <link name="HeadTouchMiddle_frame"/>
  <joint name="Head/Touch/Middle_sensor_fixedjoint" type="fixed">
    <parent link="Head"/>
    <child link="HeadTouchMiddle_frame"/>
    <origin rpy="3.14159 -1.57079 -3.14159" xyz="0.001 0 0.1099"/>
    <axis xyz="0 0 0"/>
  </joint>
  <link name="RInfraRed_frame"/>
  <joint name="InfraredR_sensor_fixedjoint" type="fixed">
    <parent link="Head"/>
    <child link="RInfraRed_frame"/>
    <origin rpy="0 0 0" xyz="0.0441 -0.0257 0.0466"/>
    <axis xyz="0 0 0"/>
  </joint>
  <link name="ChestButton_frame"/>
  <joint name="ChestBoard/Button_sensor_fixedjoint" type="fixed">
    <parent link="torso"/>
    <child link="ChestButton_frame"/>
    <origin rpy="0 0 0" xyz="0.049871 0.001588 0.055163"/>
    <axis xyz="0 0 0"/>
  </joint>
  <link name="LFootBumperLeft_frame"/>
  <joint name="LFoot/Bumper/Left_sensor_fixedjoint" type="fixed">
    <parent link="l_ankle"/>
    <child link="LFootBumperLeft_frame"/>
    <origin rpy="0 0 0" xyz="0.0876 0.019 -0.0353"/>
    <axis xyz="0 0 0"/>
  </joint>
  <link name="LHandTouchRight_frame"/>
  <joint name="LHand/Touch/Right_sensor_fixedjoint" type="fixed">
    <parent link="l_wrist"/>
    <child link="LHandTouchRight_frame"/>
    <origin rpy="0 0 -1.5708" xyz="0.035 -0.025 0.0035"/>
    <axis xyz="0 0 0"/>
  </joint>
  <link name="RFinger13_link">
    <inertial>
      <mass value="2e-06"/>
      <inertia ixx="1.1e-09" ixy="0" ixz="0" iyy="1.1e-09" iyz="0" izz="1.1e-09"/>
    </inertial>
    <visual>
      <geometry>
        <mesh filename="package://nao_meshes/meshes/V40/RFinger13_0.10.stl" scale="0.1 0.1 0.1"/>
      </geometry>
      <origin rpy="0 0 0" xyz="0 0 0"/>
    </visual>
    <collision>
      <geometry>
        <mesh filename="package://nao_meshes/meshes/V40/RFinger13_0.10.stl" scale="0.1 0.1 0.1"/>
      </geometry>
      <origin rpy="0 0 0" xyz="0 0 0"/>
    </collision>
  </link>
  <joint name="RFinger13" type="continuous">
    <parent link="RFinger12_link"/>
    <child link="RFinger13_link"/>
    <origin rpy="0 0 -0.999899" xyz="0.01436 0 0"/>
    <axis xyz="0 0 1.0"/>
    <mimic joint="RHand" multiplier="0.999899" offset="0"/>
  </joint>
  <link name="RFinger12_link">
    <inertial>
      <mass value="2e-06"/>
      <inertia ixx="1.1e-09" ixy="0" ixz="0" iyy="1.1e-09" iyz="0" izz="1.1e-09"/>
    </inertial>
    <visual>
      <geometry>
        <mesh filename="package://nao_meshes/meshes/V40/RFinger12_0.10.stl" scale="0.1 0.1 0.1"/>
      </geometry>
      <origin rpy="0 0 0" xyz="0 0 0"/>
    </visual>
    <collision>
      <geometry>
        <mesh filename="package://nao_meshes/meshes/V40/RFinger12_0.10.stl" scale="0.1 0.1 0.1"/>
      </geometry>
      <origin rpy="0 0 0" xyz="0 0 0"/>
    </collision>
  </link>
  <joint name="RFinger12" type="continuous">
    <parent link="RFinger11_link"/>
    <child link="RFinger12_link"/>
    <origin rpy="0 0 -0.999899" xyz="0.01436 0 0"/>
    <axis xyz="0 0 1.0"/>
    <mimic joint="RHand" multiplier="0.999899" offset="0"/>
  </joint>
  <link name="LFinger21_link">
    <inertial>
      <mass value="2e-06"/>
      <inertia ixx="1.1e-09" ixy="0" ixz="0" iyy="1.1e-09" iyz="0" izz="1.1e-09"/>
    </inertial>
    <visual>
      <geometry>
        <mesh filename="package://nao_meshes/meshes/V40/LFinger21_0.10.stl" scale="0.1 0.1 0.1"/>
      </geometry>
      <origin rpy="0 0 0" xyz="0 0 0"/>
    </visual>
    <collision>
      <geometry>
        <mesh filename="package://nao_meshes/meshes/V40/LFinger21_0.10.stl" scale="0.1 0.1 0.1"/>
      </geometry>
      <origin rpy="0 0 0" xyz="0 0 0"/>
    </collision>
  </link>
  <joint name="LFinger21" type="continuous">
    <parent link="l_wrist"/>
    <child link="LFinger21_link"/>
    <origin rpy="1.25539 0.976662 -0.264067" xyz="0.06907 -0.01157 -0.00304"/>
    <axis xyz="0 0 1.0"/>
    <mimic joint="LHand" multiplier="0.999899" offset="0"/>
  </joint>
  <link name="LFinger13_link">
    <inertial>
      <mass value="2e-06"/>
      <inertia ixx="1.1e-09" ixy="0" ixz="0" iyy="1.1e-09" iyz="0" izz="1.1e-09"/>
    </inertial>
    <visual>
      <geometry>
        <mesh filename="package://nao_meshes/meshes/V40/LFinger13_0.10.stl" scale="0.1 0.1 0.1"/>
      </geometry>
      <origin rpy="0 0 0" xyz="0 0 0"/>
    </visual>
    <collision>
      <geometry>
        <mesh filename="package://nao_meshes/meshes/V40/LFinger13_0.10.stl" scale="0.1 0.1 0.1"/>
      </geometry>
      <origin rpy="0 0 0" xyz="0 0 0"/>
    </collision>
  </link>
  <joint name="LFinger13" type="continuous">
    <parent link="LFinger12_link"/>
    <child link="LFinger13_link"/>
    <origin rpy="0 0 -0.999899" xyz="0.01436 0 0"/>
    <axis xyz="0 0 1.0"/>
    <mimic joint="LHand" multiplier="0.999899" offset="0"/>
  </joint>
  <link name="LFinger11_link">
    <inertial>
      <mass value="2e-06"/>
      <inertia ixx="1.1e-09" ixy="0" ixz="0" iyy="1.1e-09" iyz="0" izz="1.1e-09"/>
    </inertial>
    <visual>
      <geometry>
        <mesh filename="package://nao_meshes/meshes/V40/LFinger11_0.10.stl" scale="0.1 0.1 0.1"/>
      </geometry>
      <origin rpy="0 0 0" xyz="0 0 0"/>
    </visual>
    <collision>
      <geometry>
        <mesh filename="package://nao_meshes/meshes/V40/LFinger11_0.10.stl" scale="0.1 0.1 0.1"/>
      </geometry>
      <origin rpy="0 0 0" xyz="0 0 0"/>
    </collision>
  </link>
  <joint name="LFinger11" type="continuous">
    <parent link="l_wrist"/>
    <child link="LFinger11_link"/>
    <origin rpy="1.8862 0.976662 0.264067" xyz="0.06907 0.01157 -0.00304"/>
    <axis xyz="0 0 1.0"/>
    <mimic joint="LHand" multiplier="0.999899" offset="0"/>
  </joint>
  <link name="RFinger22_link">
    <inertial>
      <mass value="2e-06"/>
      <inertia ixx="1.1e-09" ixy="0" ixz="0" iyy="1.1e-09" iyz="0" izz="1.1e-09"/>
    </inertial>
    <visual>
      <geometry>
        <mesh filename="package://nao_meshes/meshes/V40/RFinger22_0.10.stl" scale="0.1 0.1 0.1"/>
      </geometry>
      <origin rpy="0 0 0" xyz="0 0 0"/>
    </visual>
    <collision>
      <geometry>
        <mesh filename="package://nao_meshes/meshes/V40/RFinger22_0.10.stl" scale="0.1 0.1 0.1"/>
      </geometry>
      <origin rpy="0 0 0" xyz="0 0 0"/>
    </collision>
  </link>
  <joint name="RFinger22" type="continuous">
    <parent link="RFinger21_link"/>
    <child link="RFinger22_link"/>
    <origin rpy="0 0 -0.999899" xyz="0.01436 0 0"/>
    <axis xyz="0 0 1.0"/>
    <mimic joint="RHand" multiplier="0.999899" offset="0"/>
  </joint>
  <link name="LFinger22_link">
    <inertial>
      <mass value="2e-06"/>
      <inertia ixx="1.1e-09" ixy="0" ixz="0" iyy="1.1e-09" iyz="0" izz="1.1e-09"/>
    </inertial>
    <visual>
      <geometry>
        <mesh filename="package://nao_meshes/meshes/V40/LFinger22_0.10.stl" scale="0.1 0.1 0.1"/>
      </geometry>
      <origin rpy="0 0 0" xyz="0 0 0"/>
    </visual>
    <collision>
      <geometry>
        <mesh filename="package://nao_meshes/meshes/V40/LFinger22_0.10.stl" scale="0.1 0.1 0.1"/>
      </geometry>
      <origin rpy="0 0 0" xyz="0 0 0"/>
    </collision>
  </link>
  <joint name="LFinger22" type="continuous">
    <parent link="LFinger21_link"/>
    <child link="LFinger22_link"/>
    <origin rpy="0 0 -0.999899" xyz="0.01436 0 0"/>
    <axis xyz="0 0 1.0"/>
    <mimic joint="LHand" multiplier="0.999899" offset="0"/>
  </joint>
  <link name="RFinger21_link">
    <inertial>
      <mass value="2e-06"/>
      <inertia ixx="1.1e-09" ixy="0" ixz="0" iyy="1.1e-09" iyz="0" izz="1.1e-09"/>
    </inertial>
    <visual>
      <geometry>
        <mesh filename="package://nao_meshes/meshes/V40/RFinger21_0.10.stl" scale="0.1 0.1 0.1"/>
      </geometry>
      <origin rpy="0 0 0" xyz="0 0 0"/>
    </visual>
    <collision>
      <geometry>
        <mesh filename="package://nao_meshes/meshes/V40/RFinger21_0.10.stl" scale="0.1 0.1 0.1"/>
      </geometry>
      <origin rpy="0 0 0" xyz="0 0 0"/>
    </collision>
  </link>
  <joint name="RFinger21" type="continuous">
    <parent link="r_wrist"/>
    <child link="RFinger21_link"/>
    <origin rpy="1.25539 0.976662 -0.264067" xyz="0.06907 -0.01157 -0.00304"/>
    <axis xyz="0 0 1.0"/>
    <mimic joint="RHand" multiplier="0.999899" offset="0"/>
  </joint>
  <link name="LFinger12_link">
    <inertial>
      <mass value="2e-06"/>
      <inertia ixx="1.1e-09" ixy="0" ixz="0" iyy="1.1e-09" iyz="0" izz="1.1e-09"/>
    </inertial>
    <visual>
      <geometry>
        <mesh filename="package://nao_meshes/meshes/V40/LFinger12_0.10.stl" scale="0.1 0.1 0.1"/>
      </geometry>
      <origin rpy="0 0 0" xyz="0 0 0"/>
    </visual>
    <collision>
      <geometry>
        <mesh filename="package://nao_meshes/meshes/V40/LFinger12_0.10.stl" scale="0.1 0.1 0.1"/>
      </geometry>
      <origin rpy="0 0 0" xyz="0 0 0"/>
    </collision>
  </link>
  <joint name="LFinger12" type="continuous">
    <parent link="LFinger11_link"/>
    <child link="LFinger12_link"/>
    <origin rpy="0 0 -0.999899" xyz="0.01436 0 0"/>
    <axis xyz="0 0 1.0"/>
    <mimic joint="LHand" multiplier="0.999899" offset="0"/>
  </joint>
  <link name="RFinger23_link">
    <inertial>
      <mass value="2e-06"/>
      <inertia ixx="1.1e-09" ixy="0" ixz="0" iyy="1.1e-09" iyz="0" izz="1.1e-09"/>
    </inertial>
    <visual>
      <geometry>
        <mesh filename="package://nao_meshes/meshes/V40/RFinger23_0.10.stl" scale="0.1 0.1 0.1"/>
      </geometry>
      <origin rpy="0 0 0" xyz="0 0 0"/>
    </visual>
    <collision>
      <geometry>
        <mesh filename="package://nao_meshes/meshes/V40/RFinger23_0.10.stl" scale="0.1 0.1 0.1"/>
      </geometry>
      <origin rpy="0 0 0" xyz="0 0 0"/>
    </collision>
  </link>
  <joint name="RFinger23" type="continuous">
    <parent link="RFinger22_link"/>
    <child link="RFinger23_link"/>
    <origin rpy="0 0 -0.999899" xyz="0.01436 0 0"/>
    <axis xyz="0 0 1.0"/>
    <mimic joint="RHand" multiplier="0.999899" offset="0"/>
  </joint>
  <link name="RFinger11_link">
    <inertial>
      <mass value="2e-06"/>
      <inertia ixx="1.1e-09" ixy="0" ixz="0" iyy="1.1e-09" iyz="0" izz="1.1e-09"/>
    </inertial>
    <visual>
      <geometry>
        <mesh filename="package://nao_meshes/meshes/V40/RFinger11_0.10.stl" scale="0.1 0.1 0.1"/>
      </geometry>
      <origin rpy="0 0 0" xyz="0 0 0"/>
    </visual>
    <collision>
      <geometry>
        <mesh filename="package://nao_meshes/meshes/V40/RFinger11_0.10.stl" scale="0.1 0.1 0.1"/>
      </geometry>
      <origin rpy="0 0 0" xyz="0 0 0"/>
    </collision>
  </link>
  <joint name="RFinger11" type="continuous">
    <parent link="r_wrist"/>
    <child link="RFinger11_link"/>
    <origin rpy="1.8862 0.976662 0.264067" xyz="0.06907 0.01157 -0.00304"/>
    <axis xyz="0 0 1.0"/>
    <mimic joint="RHand" multiplier="0.999899" offset="0"/>
  </joint>
  <link name="LFinger23_link">
    <inertial>
      <mass value="2e-06"/>
      <inertia ixx="1.1e-09" ixy="0" ixz="0" iyy="1.1e-09" iyz="0" izz="1.1e-09"/>
    </inertial>
    <visual>
      <geometry>
        <mesh filename="package://nao_meshes/meshes/V40/LFinger23_0.10.stl" scale="0.1 0.1 0.1"/>
      </geometry>
      <origin rpy="0 0 0" xyz="0 0 0"/>
    </visual>
    <collision>
      <geometry>
        <mesh filename="package://nao_meshes/meshes/V40/LFinger23_0.10.stl" scale="0.1 0.1 0.1"/>
      </geometry>
      <origin rpy="0 0 0" xyz="0 0 0"/>
    </collision>
  </link>
  <joint name="LFinger23" type="continuous">
    <parent link="LFinger22_link"/>
    <child link="LFinger23_link"/>
    <origin rpy="0 0 -0.999899" xyz="0.01436 0 0"/>
    <axis xyz="0 0 1.0"/>
    <mimic joint="LHand" multiplier="0.999899" offset="0"/>
  </joint>
  <link name="LThumb1_link">
    <inertial>
      <mass value="2e-06"/>
      <inertia ixx="1.1e-09" ixy="0" ixz="0" iyy="1.1e-09" iyz="0" izz="1.1e-09"/>
    </inertial>
    <visual>
      <geometry>
        <mesh filename="package://nao_meshes/meshes/V40/LThumb1_0.10.stl" scale="0.1 0.1 0.1"/>
      </geometry>
      <origin rpy="0 0 0" xyz="0 0 0"/>
    </visual>
    <collision>
      <geometry>
        <mesh filename="package://nao_meshes/meshes/V40/LThumb1_0.10.stl" scale="0.1 0.1 0.1"/>
      </geometry>
      <origin rpy="0 0 0" xyz="0 0 0"/>
    </collision>
  </link>
  <joint name="LThumb1" type="continuous">
    <parent link="l_wrist"/>
    <child link="LThumb1_link"/>
    <origin rpy="-1.5708 0.0472984 -3.26826e-08" xyz="0.04895 0 -0.02638"/>
    <axis xyz="0 0 1.0"/>
    <mimic joint="LHand" multiplier="0.999899" offset="0"/>
  </joint>
  <link name="RThumb1_link">
    <inertial>
      <mass value="2e-06"/>
      <inertia ixx="1.1e-09" ixy="0" ixz="0" iyy="1.1e-09" iyz="0" izz="1.1e-09"/>
    </inertial>
    <visual>
      <geometry>
        <mesh filename="package://nao_meshes/meshes/V40/RThumb1_0.10.stl" scale="0.1 0.1 0.1"/>
      </geometry>
      <origin rpy="0 0 0" xyz="0 0 0"/>
    </visual>
    <collision>
      <geometry>
        <mesh filename="package://nao_meshes/meshes/V40/RThumb1_0.10.stl" scale="0.1 0.1 0.1"/>
      </geometry>
      <origin rpy="0 0 0" xyz="0 0 0"/>
    </collision>
  </link>
  <joint name="RThumb1" type="continuous">
    <parent link="r_wrist"/>
    <child link="RThumb1_link"/>
    <origin rpy="-1.5708 0.0472984 -3.26826e-08" xyz="0.04895 0 -0.02638"/>
    <axis xyz="0 0 1.0"/>
    <mimic joint="RHand" multiplier="0.999899" offset="0"/>
  </joint>
  <link name="RThumb2_link">
    <inertial>
      <mass value="2e-06"/>
      <inertia ixx="1.1e-09" ixy="0" ixz="0" iyy="1.1e-09" iyz="0" izz="1.1e-09"/>
    </inertial>
    <visual>
      <geometry>
        <mesh filename="package://nao_meshes/meshes/V40/RThumb2_0.10.stl" scale="0.1 0.1 0.1"/>
      </geometry>
      <origin rpy="0 0 0" xyz="0 0 0"/>
    </visual>
    <collision>
      <geometry>
        <mesh filename="package://nao_meshes/meshes/V40/RThumb2_0.10.stl" scale="0.1 0.1 0.1"/>
      </geometry>
      <origin rpy="0 0 0" xyz="0 0 0"/>
    </collision>
  </link>
  <joint name="RThumb2" type="continuous">
    <parent link="RThumb1_link"/>
    <child link="RThumb2_link"/>
    <origin rpy="0 0 -0.999899" xyz="0.01436 0 0"/>
    <axis xyz="0 0 1.0"/>
    <mimic joint="RHand" multiplier="0.999899" offset="0"/>
  </joint>
  <link name="LThumb2_link">
    <inertial>
      <mass value="2e-06"/>
      <inertia ixx="1.1e-09" ixy="0" ixz="0" iyy="1.1e-09" iyz="0" izz="1.1e-09"/>
    </inertial>
    <visual>
      <geometry>
        <mesh filename="package://nao_meshes/meshes/V40/LThumb2_0.10.stl" scale="0.1 0.1 0.1"/>
      </geometry>
      <origin rpy="0 0 0" xyz="0 0 0"/>
    </visual>
    <collision>
      <geometry>
        <mesh filename="package://nao_meshes/meshes/V40/LThumb2_0.10.stl" scale="0.1 0.1 0.1"/>
      </geometry>
      <origin rpy="0 0 0" xyz="0 0 0"/>
    </collision>
  </link>
  <joint name="LThumb2" type="continuous">
    <parent link="LThumb1_link"/>
    <child link="LThumb2_link"/>
    <origin rpy="0 0 -0.999899" xyz="0.01436 0 0"/>
    <axis xyz="0 0 1.0"/>
    <mimic joint="LHand" multiplier="0.999899" offset="0"/>
  </joint>
  <!-- GAZEBO ROS CONTROL AND IMU PLUGIN -->
  <gazebo>
    <plugin filename="libgazebo_ros_control.so" name="gazebo_ros_control">
      <robotNamespace>/nao_dcm</robotNamespace>
      <robotSimType>gazebo_ros_control/DefaultRobotHWSim</robotSimType>
    </plugin>
    <!--        <plugin filename="libgazebo_ros_imu.so" name="gazebo_ros_imu_controller">
            <robotNamespace>/nao_dcm</robotNamespace>
            <topicName>imu_data</topicName>
            <bodyName>imu</bodyName>
            <frameId>ImuAccelerometer_frame</frameId>
            <gaussianNoise>2.89e-08</gaussianNoise>
            <accelGaussianNoise>2.89e-08 2.89e-08 2.89e-08</accelGaussianNoise>
            <rateGaussianNoise>2.89e-08 2.89e-08 2.89e-08</rateGaussianNoise>
            <headingGaussianNoise>2.89e-08 2.89e-08 2.89e-08</headingGaussianNoise>
            <xyzOffsets>0 0 0</xyzOffsets>
            <rpyOffsets>0 0 0</rpyOffsets>
            <updateRate>30.0</updateRate>
            <alwaysOn>true</alwaysOn>
        </plugin>
-->
    <!--        <plugin name="gazebo_ros_imu_controller" filename="${imu_plugin}">
            <robotNamespace>/nao_dcm</robotNamespace>
            <topicName>imu_data</topicName>
            <bodyName>imu</bodyName>
            <frameId>imu</frameId>
            <gaussianNoise>2.89e-08</gaussianNoise>
            <accelGaussianNoise>2.89e-08 2.89e-08 2.89e-08</accelGaussianNoise>
            <rateGaussianNoise>2.89e-08 2.89e-08 2.89e-08</rateGaussianNoise>
            <headingGaussianNoise>2.89e-08 2.89e-08 2.89e-08</headingGaussianNoise>
            <xyzOffsets>0 0 0</xyzOffsets>
            <rpyOffsets>0 0 0</rpyOffsets>
            <updateRate>30.0</updateRate>
            <alwaysOn>true</alwaysOn>
        </plugin>
-->
    <!-- Mimic joints through plugin develop by costashatz based on implementation by Goncalo Cabrita -->
    <plugin filename="libroboticsgroup_gazebo_mimic_joint_plugin.so" name="mimic_hipyawpitch">
      <joint>LHipYawPitch</joint>
      <mimicJoint>RHipYawPitch</mimicJoint>
      <multiplier>1.0</multiplier>
      <offset>0.0</offset>
    </plugin>
    <plugin filename="libroboticsgroup_gazebo_mimic_joint_plugin.so" name="mimic_LFinger11">
      <joint>LHand</joint>
      <mimicJoint>LFinger11</mimicJoint>
      <multiplier>-0.785398163398</multiplier>
      <offset>0.785398163398</offset>
    </plugin>
    <plugin filename="libroboticsgroup_gazebo_mimic_joint_plugin.so" name="mimic_LFinger12">
      <joint>LHand</joint>
      <mimicJoint>LFinger12</mimicJoint>
      <multiplier>-0.785398163398</multiplier>
      <offset>0.785398163398</offset>
    </plugin>
    <plugin filename="libroboticsgroup_gazebo_mimic_joint_plugin.so" name="mimic_LFinger13">
      <joint>LHand</joint>
      <mimicJoint>LFinger13</mimicJoint>
      <multiplier>-0.785398163398</multiplier>
      <offset>0.785398163398</offset>
    </plugin>
    <plugin filename="libroboticsgroup_gazebo_mimic_joint_plugin.so" name="mimic_LFinger21">
      <joint>LHand</joint>
      <mimicJoint>LFinger21</mimicJoint>
      <multiplier>-0.785398163398</multiplier>
      <offset>0.785398163398</offset>
    </plugin>
    <plugin filename="libroboticsgroup_gazebo_mimic_joint_plugin.so" name="mimic_LFinger22">
      <joint>LHand</joint>
      <mimicJoint>LFinger22</mimicJoint>
      <multiplier>-0.785398163398</multiplier>
      <offset>0.785398163398</offset>
    </plugin>
    <plugin filename="libroboticsgroup_gazebo_mimic_joint_plugin.so" name="mimic_LFinger23">
      <joint>LHand</joint>
      <mimicJoint>LFinger23</mimicJoint>
      <multiplier>-0.785398163398</multiplier>
      <offset>0.785398163398</offset>
    </plugin>
    <plugin filename="libroboticsgroup_gazebo_mimic_joint_plugin.so" name="mimic_RFinger11">
      <joint>RHand</joint>
      <mimicJoint>RFinger11</mimicJoint>
      <multiplier>-0.785398163398</multiplier>
      <offset>0.785398163398</offset>
    </plugin>
    <plugin filename="libroboticsgroup_gazebo_mimic_joint_plugin.so" name="mimic_RFinger12">
      <joint>RHand</joint>
      <mimicJoint>RFinger12</mimicJoint>
      <multiplier>-0.785398163398</multiplier>
      <offset>0.785398163398</offset>
    </plugin>
    <plugin filename="libroboticsgroup_gazebo_mimic_joint_plugin.so" name="mimic_RFinger13">
      <joint>RHand</joint>
      <mimicJoint>RFinger13</mimicJoint>
      <multiplier>-0.785398163398</multiplier>
      <offset>0.785398163398</offset>
    </plugin>
    <plugin filename="libroboticsgroup_gazebo_mimic_joint_plugin.so" name="mimic_RFinger21">
      <joint>RHand</joint>
      <mimicJoint>RFinger21</mimicJoint>
      <multiplier>-0.785398163398</multiplier>
      <offset>0.785398163398</offset>
    </plugin>
    <plugin filename="libroboticsgroup_gazebo_mimic_joint_plugin.so" name="mimic_RFinger22">
      <joint>RHand</joint>
      <mimicJoint>RFinger22</mimicJoint>
      <multiplier>-0.785398163398</multiplier>
      <offset>0.785398163398</offset>
    </plugin>
    <plugin filename="libroboticsgroup_gazebo_mimic_joint_plugin.so" name="mimic_RFinger23">
      <joint>RHand</joint>
      <mimicJoint>RFinger23</mimicJoint>
      <multiplier>-0.785398163398</multiplier>
      <offset>0.785398163398</offset>
    </plugin>
    <plugin filename="libroboticsgroup_gazebo_mimic_joint_plugin.so" name="LThumb1">
      <joint>LHand</joint>
      <mimicJoint>LThumb1</mimicJoint>
      <multiplier>-0.785398163398</multiplier>
      <offset>0.785398163398</offset>
    </plugin>
    <plugin filename="libroboticsgroup_gazebo_mimic_joint_plugin.so" name="LThumb2">
      <joint>LHand</joint>
      <mimicJoint>LThumb2</mimicJoint>
      <multiplier>-0.785398163398</multiplier>
      <offset>0.785398163398</offset>
    </plugin>
    <plugin filename="libroboticsgroup_gazebo_mimic_joint_plugin.so" name="RThumb1">
      <joint>RHand</joint>
      <mimicJoint>RThumb1</mimicJoint>
      <multiplier>-0.785398163398</multiplier>
      <offset>0.785398163398</offset>
    </plugin>
    <plugin filename="libroboticsgroup_gazebo_mimic_joint_plugin.so" name="RThumb2">
      <joint>RHand</joint>
      <mimicJoint>RThumb2</mimicJoint>
      <multiplier>-0.785398163398</multiplier>
      <offset>0.785398163398</offset>
    </plugin>
    <plugin filename="libroboticsgroup_gazebo_disable_link_plugin.so" name="LFinger11_link">
      <link>LFinger11_link</link>
    </plugin>
    <plugin filename="libroboticsgroup_gazebo_disable_link_plugin.so" name="LFinger12_link">
      <link>LFinger12_link</link>
    </plugin>
    <plugin filename="libroboticsgroup_gazebo_disable_link_plugin.so" name="LFinger13_link">
      <link>LFinger13_link</link>
    </plugin>
    <plugin filename="libroboticsgroup_gazebo_disable_link_plugin.so" name="LFinger21_link">
      <link>LFinger21_link</link>
    </plugin>
    <plugin filename="libroboticsgroup_gazebo_disable_link_plugin.so" name="LFinger22_link">
      <link>LFinger22_link</link>
    </plugin>
    <plugin filename="libroboticsgroup_gazebo_disable_link_plugin.so" name="LFinger23_link">
      <link>LFinger23_link</link>
    </plugin>
    <plugin filename="libroboticsgroup_gazebo_disable_link_plugin.so" name="LThumb1_link">
      <link>LThumb1_link</link>
    </plugin>
    <plugin filename="libroboticsgroup_gazebo_disable_link_plugin.so" name="LThumb2_link">
      <link>LThumb2_link</link>
    </plugin>
    <plugin filename="libroboticsgroup_gazebo_disable_link_plugin.so" name="l_gripper">
      <link>l_gripper</link>
    </plugin>
    <plugin filename="libroboticsgroup_gazebo_disable_link_plugin.so" name="RFinger11_link">
      <link>RFinger11_link</link>
    </plugin>
    <plugin filename="libroboticsgroup_gazebo_disable_link_plugin.so" name="RFinger12_link">
      <link>RFinger12_link</link>
    </plugin>
    <plugin filename="libroboticsgroup_gazebo_disable_link_plugin.so" name="RFinger13_link">
      <link>RFinger13_link</link>
    </plugin>
    <plugin filename="libroboticsgroup_gazebo_disable_link_plugin.so" name="RFinger21_link">
      <link>RFinger21_link</link>
    </plugin>
    <plugin filename="libroboticsgroup_gazebo_disable_link_plugin.so" name="RFinger22_link">
      <link>RFinger22_link</link>
    </plugin>
    <plugin filename="libroboticsgroup_gazebo_disable_link_plugin.so" name="RFinger23_link">
      <link>RFinger23_link</link>
    </plugin>
    <plugin filename="libroboticsgroup_gazebo_disable_link_plugin.so" name="RThumb1_link">
      <link>RThumb1_link</link>
    </plugin>
    <plugin filename="libroboticsgroup_gazebo_disable_link_plugin.so" name="RThumb2_link">
      <link>RThumb2_link</link>
    </plugin>
    <plugin filename="libroboticsgroup_gazebo_disable_link_plugin.so" name="r_gripper">
      <link>r_gripper</link>
    </plugin>
  </gazebo>
  <!-- END OF GAZEBO ROS CONTROL PLUGIN -->
  <!-- GAZEBO MATERIALS -->
  <gazebo reference="torso">
    <mu1>0.5</mu1>
    <mu2>0.5</mu2>
    <selfCollide>false</selfCollide>
    <turnGravityOff>false</turnGravityOff>
  </gazebo>
  <gazebo reference="Neck">
    <mu1>0.5</mu1>
    <mu2>0.5</mu2>
    <selfCollide>false</selfCollide>
    <turnGravityOff>false</turnGravityOff>
  </gazebo>
  <gazebo reference="Head">
    <mu1>0.5</mu1>
    <mu2>0.5</mu2>
    <selfCollide>false</selfCollide>
    <turnGravityOff>false</turnGravityOff>
  </gazebo>
  <gazebo reference="gaze">
    <mu1>0.5</mu1>
    <mu2>0.5</mu2>
    <selfCollide>false</selfCollide>
    <turnGravityOff>false</turnGravityOff>
  </gazebo>
  <!--    <gazebo reference="LShoulderDummy">
        <mu1>0.5</mu1>
        <mu2>0.5</mu2>
        <selfCollide>false</selfCollide>
        <turnGravityOff>false</turnGravityOff>
    </gazebo> 
    <gazebo reference="RShoulderDummy">
        <mu1>0.5</mu1>
        <mu2>0.5</mu2>
        <selfCollide>false</selfCollide>
        <turnGravityOff>false</turnGravityOff>
    </gazebo> -->
  <!-- ARMS -->
  <gazebo reference="LShoulder">
    <mu1>0.5</mu1>
    <mu2>0.5</mu2>
    <selfCollide>false</selfCollide>
    <turnGravityOff>false</turnGravityOff>
  </gazebo>
  <gazebo reference="LBicep">
    <mu1>0.5</mu1>
    <mu2>0.5</mu2>
    <selfCollide>false</selfCollide>
    <turnGravityOff>false</turnGravityOff>
  </gazebo>
  <gazebo reference="LElbow">
    <mu1>0.5</mu1>
    <mu2>0.5</mu2>
    <selfCollide>false</selfCollide>
    <turnGravityOff>false</turnGravityOff>
  </gazebo>
  <gazebo reference="LForeArm">
    <mu1>0.5</mu1>
    <mu2>0.5</mu2>
    <selfCollide>false</selfCollide>
    <turnGravityOff>false</turnGravityOff>
  </gazebo>
  <gazebo reference="l_wrist">
    <mu1>0.5</mu1>
    <mu2>0.5</mu2>
    <selfCollide>false</selfCollide>
    <turnGravityOff>false</turnGravityOff>
  </gazebo>
  <gazebo reference="l_gripper">
    <mu1>0.5</mu1>
    <mu2>0.5</mu2>
    <selfCollide>false</selfCollide>
    <turnGravityOff>true</turnGravityOff>
  </gazebo>
  <gazebo reference="RShoulder">
    <mu1>0.5</mu1>
    <mu2>0.5</mu2>
    <selfCollide>false</selfCollide>
    <turnGravityOff>false</turnGravityOff>
  </gazebo>
  <gazebo reference="RBicep">
    <mu1>0.5</mu1>
    <mu2>0.5</mu2>
    <selfCollide>false</selfCollide>
    <turnGravityOff>false</turnGravityOff>
  </gazebo>
  <gazebo reference="RElbow">
    <mu1>0.5</mu1>
    <mu2>0.5</mu2>
    <selfCollide>false</selfCollide>
    <turnGravityOff>false</turnGravityOff>
  </gazebo>
  <gazebo reference="RForeArm">
    <mu1>0.5</mu1>
    <mu2>0.5</mu2>
    <selfCollide>false</selfCollide>
    <turnGravityOff>false</turnGravityOff>
  </gazebo>
  <gazebo reference="r_wrist">
    <mu1>0.5</mu1>
    <mu2>0.5</mu2>
    <selfCollide>false</selfCollide>
    <turnGravityOff>false</turnGravityOff>
  </gazebo>
  <gazebo reference="r_gripper">
    <mu1>0.5</mu1>
    <mu2>0.5</mu2>
    <selfCollide>false</selfCollide>
    <turnGravityOff>true</turnGravityOff>
  </gazebo>
  <!--    <gazebo reference="LElbowDummy">
        <mu1>0.5</mu1>
        <mu2>0.5</mu2>
        <selfCollide>false</selfCollide>
        <turnGravityOff>false</turnGravityOff>
    </gazebo>
-->
  <gazebo reference="LFinger11_link">
    <mu1>0.5</mu1>
    <mu2>0.5</mu2>
    <selfCollide>false</selfCollide>
    <turnGravityOff>true</turnGravityOff>
  </gazebo>
  <gazebo reference="LFinger12_link">
    <mu1>0.5</mu1>
    <mu2>0.5</mu2>
    <selfCollide>false</selfCollide>
    <turnGravityOff>true</turnGravityOff>
  </gazebo>
  <gazebo reference="LFinger13_link">
    <mu1>0.5</mu1>
    <mu2>0.5</mu2>
    <selfCollide>false</selfCollide>
    <turnGravityOff>true</turnGravityOff>
  </gazebo>
  <gazebo reference="LFinger21_link">
    <mu1>0.5</mu1>
    <mu2>0.5</mu2>
    <selfCollide>false</selfCollide>
    <turnGravityOff>true</turnGravityOff>
  </gazebo>
  <gazebo reference="LFinger22_link">
    <mu1>0.5</mu1>
    <mu2>0.5</mu2>
    <selfCollide>false</selfCollide>
    <turnGravityOff>true</turnGravityOff>
  </gazebo>
  <gazebo reference="LFinger23_link">
    <mu1>0.5</mu1>
    <mu2>0.5</mu2>
    <selfCollide>false</selfCollide>
    <turnGravityOff>true</turnGravityOff>
  </gazebo>
  <gazebo reference="LThumb1_link">
    <mu1>0.5</mu1>
    <mu2>0.5</mu2>
    <selfCollide>false</selfCollide>
    <turnGravityOff>true</turnGravityOff>
  </gazebo>
  <gazebo reference="LThumb2_link">
    <mu1>0.5</mu1>
    <mu2>0.5</mu2>
    <selfCollide>false</selfCollide>
    <turnGravityOff>true</turnGravityOff>
  </gazebo>
  <gazebo reference="LPelvis">
    <mu1>0.5</mu1>
    <mu2>0.5</mu2>
    <selfCollide>false</selfCollide>
    <turnGravityOff>false</turnGravityOff>
  </gazebo>
  <gazebo reference="LHip">
    <mu1>0.5</mu1>
    <mu2>0.5</mu2>
    <selfCollide>false</selfCollide>
    <turnGravityOff>false</turnGravityOff>
  </gazebo>
  <gazebo reference="LThigh">
    <mu1>0.5</mu1>
    <mu2>0.5</mu2>
    <selfCollide>false</selfCollide>
    <turnGravityOff>false</turnGravityOff>
  </gazebo>
  <gazebo reference="LTibia">
    <mu1>0.5</mu1>
    <mu2>0.5</mu2>
    <selfCollide>false</selfCollide>
    <turnGravityOff>false</turnGravityOff>
  </gazebo>
  <gazebo reference="LAnklePitch">
    <mu1>0.5</mu1>
    <mu2>0.5</mu2>
    <selfCollide>false</selfCollide>
    <turnGravityOff>false</turnGravityOff>
  </gazebo>
  <gazebo reference="l_ankle">
    <mu1>0.5</mu1>
    <mu2>0.5</mu2>
    <selfCollide>false</selfCollide>
    <turnGravityOff>false</turnGravityOff>
    <fdir1>1 0 0</fdir1>
    <maxVel>0.1</maxVel>
    <minDepth>0.003</minDepth>
  </gazebo>
  <gazebo reference="RPelvis">
    <mu1>0.5</mu1>
    <mu2>0.5</mu2>
    <selfCollide>false</selfCollide>
    <turnGravityOff>false</turnGravityOff>
  </gazebo>
  <gazebo reference="RHip">
    <mu1>0.5</mu1>
    <mu2>0.5</mu2>
    <selfCollide>false</selfCollide>
    <turnGravityOff>false</turnGravityOff>
  </gazebo>
  <gazebo reference="RThigh">
    <mu1>0.5</mu1>
    <mu2>0.5</mu2>
    <selfCollide>false</selfCollide>
    <turnGravityOff>false</turnGravityOff>
  </gazebo>
  <gazebo reference="RTibia">
    <mu1>0.5</mu1>
    <mu2>0.5</mu2>
    <selfCollide>false</selfCollide>
    <turnGravityOff>false</turnGravityOff>
  </gazebo>
  <gazebo reference="RAnklePitch">
    <mu1>0.5</mu1>
    <mu2>0.5</mu2>
    <selfCollide>false</selfCollide>
    <turnGravityOff>false</turnGravityOff>
  </gazebo>
  <gazebo reference="r_ankle">
    <mu1>0.5</mu1>
    <mu2>0.5</mu2>
    <selfCollide>false</selfCollide>
    <turnGravityOff>false</turnGravityOff>
    <fdir1>1 0 0</fdir1>
    <maxVel>0.1</maxVel>
    <minDepth>0.003</minDepth>
  </gazebo>
  <gazebo reference="RFinger11_link">
    <mu1>0.5</mu1>
    <mu2>0.5</mu2>
    <selfCollide>false</selfCollide>
    <turnGravityOff>true</turnGravityOff>
  </gazebo>
  <gazebo reference="RFinger12_link">
    <mu1>0.5</mu1>
    <mu2>0.5</mu2>
    <selfCollide>false</selfCollide>
    <turnGravityOff>true</turnGravityOff>
  </gazebo>
  <gazebo reference="RFinger13_link">
    <mu1>0.5</mu1>
    <mu2>0.5</mu2>
    <selfCollide>false</selfCollide>
    <turnGravityOff>true</turnGravityOff>
  </gazebo>
  <gazebo reference="RFinger21_link">
    <mu1>0.5</mu1>
    <mu2>0.5</mu2>
    <selfCollide>false</selfCollide>
    <turnGravityOff>true</turnGravityOff>
  </gazebo>
  <gazebo reference="RFinger22_link">
    <mu1>0.5</mu1>
    <mu2>0.5</mu2>
    <selfCollide>false</selfCollide>
    <turnGravityOff>true</turnGravityOff>
  </gazebo>
  <gazebo reference="RFinger23_link">
    <mu1>0.5</mu1>
    <mu2>0.5</mu2>
    <selfCollide>false</selfCollide>
    <turnGravityOff>true</turnGravityOff>
  </gazebo>
  <gazebo reference="RThumb1_link">
    <mu1>0.5</mu1>
    <mu2>0.5</mu2>
    <selfCollide>false</selfCollide>
    <turnGravityOff>true</turnGravityOff>
  </gazebo>
  <gazebo reference="RThumb2_link">
    <mu1>0.5</mu1>
    <mu2>0.5</mu2>
    <selfCollide>false</selfCollide>
    <turnGravityOff>true</turnGravityOff>
  </gazebo>
  <!--

        RGB CAMERAS: Working
-->
  <gazebo reference="CameraTop_frame">
    <sensor name="CameraTop" type="camera">
      <update_rate>5.0</update_rate>
      <camera name="camera_top">
        <horizontal_fov>1.06290551</horizontal_fov>
        <image>
          <width>640</width>
          <height>480</height>
          <format>R8G8B8</format>
        </image>
        <clip>
          <near>0.3</near>
          <far>500</far>
        </clip>
        <noise>
          <type>gaussian</type>
          <mean>0.0</mean>
          <stddev>0.007</stddev>
        </noise>
      </camera>
      <plugin filename="libgazebo_ros_camera.so" name="camera_controller">
        <robotNamespace>nao_robot</robotNamespace>
        <alwaysOn>true</alwaysOn>
        <updateRate>5.0</updateRate>
        <cameraName>camera/top</cameraName>
        <imageTopicName>image_raw</imageTopicName>
        <cameraInfoTopicName>camera_info</cameraInfoTopicName>
        <frameName>CameraTop_optical_frame</frameName>
        <hackBaseline>0.07</hackBaseline>
        <distortionK1>-0.0545211</distortionK1>
        <distortionK2>0.06919734</distortionK2>
        <distortionK3>-0.0241095</distortionK3>
        <distortionT1>-0.0112245</distortionT1>
        <distortionT2>0.0</distortionT2>
      </plugin>
    </sensor>
  </gazebo>
  <gazebo reference="CameraBottom_frame">
    <sensor name="CameraBottom" type="camera">
      <update_rate>5.0</update_rate>
      <camera name="camera_bottom">
        <horizontal_fov>1.06290551</horizontal_fov>
        <image>
          <width>640</width>
          <height>480</height>
          <format>R8G8B8</format>
        </image>
        <clip>
          <near>0.05</near>
          <far>500</far>
        </clip>
        <noise>
          <type>gaussian</type>
          <mean>0.0</mean>
          <stddev>0.007</stddev>
        </noise>
      </camera>
      <plugin filename="libgazebo_ros_camera.so" name="camera_controller">
        <robotNamespace>/nao_robot</robotNamespace>
        <alwaysOn>true</alwaysOn>
        <updateRate>5.0</updateRate>
        <cameraName>camera_bottom</cameraName>
        <imageTopicName>image_raw</imageTopicName>
        <cameraInfoTopicName>camera_info</cameraInfoTopicName>
        <frameName>CameraBottom_optical_frame</frameName>
        <hackBaseline>0.07</hackBaseline>
        <distortionK1>-0.0648764</distortionK1>
        <distortionK2>0.06125202</distortionK2>
        <distortionK3>0.00382815</distortionK3>
        <distortionT1>-0.00551104</distortionT1>
        <distortionT2>0.0</distortionT2>
      </plugin>
    </sensor>
  </gazebo>
  <!--

        CameraDepth : not displayed at the right spot

<gazebo reference="CameraDepth3_frame">
    <sensor type="depth" name="openni_camera_camera2">       
        <always_on>1</always_on>
        <visualize>true</visualize>             
        <camera>
            <horizontal_fov>1.01229</horizontal_fov>  
            <image>
                <width>320</width>
                <height>240</height>
                <format>R8G8B8</format> 
            </image>
            <depth_camera>

            </depth_camera>
            <clip>
                <near>0.1</near>
                <far>100</far>
            </clip>
        </camera>
        <plugin name="depth_cam_controller2" filename="libgazebo_ros_openni_kinect.so"> 
            <baseline>0.2</baseline>
            <alwaysOn>true</alwaysOn>
            <updateRate>0.1</updateRate>
            <cameraName>xtion2</cameraName>
            <imageTopicName>/xtion2/ir/image_raw</imageTopicName>
            <cameraInfoTopicName>/xtion2/ir/camera_info</cameraInfoTopicName>
            <depthImageTopicName>/xtion2/depth/image_raw</depthImageTopicName>
            <depthImageInfoTopicName>/xtion2/depth/camera_info</depthImageInfoTopicName>
            <pointCloudTopicName>/xtion2/depth/points</pointCloudTopicName>
            <frameName>CameraDepth2_frame</frameName>
            <pointCloudCutoff>0.5</pointCloudCutoff>
            <distortionK1>0.00000001</distortionK1>
            <distortionK2>0.00000001</distortionK2>
            <distortionK3>0.00000001</distortionK3>
            <distortionT1>0.00000001</distortionT1>
            <distortionT2>0.00000001</distortionT2>
            <CxPrime>0</CxPrime>
            <Cx>0</Cx>
            <Cy>0</Cy>
            <focalLength>0</focalLength>
            <hackBaseline>0</hackBaseline>
        </plugin>
    </sensor>
</gazebo>
-->
  <!-- 
    BUMPERS + FSR
libgazebo_ros_bumper.so bugged right now, waiting for new release


<gazebo reference="LFootBumper_frame">
  <sensor type="contact" name="LFootBumper">
    <update_rate>10</update_rate>
    <contact>
      <collision>LFootBumper_frame_collision</collision>
    </contact>
    <plugin filename="libgazebo_ros_bumper.so" name="gazebo_nao_ros_bumper">
      <alwaysOn>true</alwaysOn>
      <bumperTopicName>LFootBumper</bumperTopicName>
      <frameName>LFootBumper_frame</frameName>
    </plugin>
  </sensor>
</gazebo>
-->
  <gazebo reference="RFsrFL_frame">
    <mu1>0.5</mu1>
    <mu2>0.5</mu2>
    <selfCollide>false</selfCollide>
    <turnGravityOff>false</turnGravityOff>
    <fdir1>1 0 0</fdir1>
    <maxVel>0.1</maxVel>
    <minDepth>0.003</minDepth>
    <sensor name="RFsrFL" type="contact">
      <always_on>1</always_on>
      <update_rate>20</update_rate>
      <visualize>false</visualize>
      <contact>
        <collision>RFsrFL_frame_collision</collision>
      </contact>
      <plugin filename="libgazebo_ros_bumper.so" name="gazebo_nao_RFsrFL">
        <robotNamespace>nao_robot</robotNamespace>
        <alwaysOn>true</alwaysOn>
        <bumperTopicName>FSR/RFoot/FrontLeft</bumperTopicName>
        <frameName>RFsrFL_frame</frameName>
      </plugin>
    </sensor>
  </gazebo>
  <gazebo reference="RFsrFR_frame">
    <mu1>0.5</mu1>
    <mu2>0.5</mu2>
    <selfCollide>false</selfCollide>
    <turnGravityOff>false</turnGravityOff>
    <fdir1>1 0 0</fdir1>
    <maxVel>0.1</maxVel>
    <minDepth>0.003</minDepth>
    <sensor name="RFsrFR" type="contact">
      <always_on>1</always_on>
      <update_rate>20</update_rate>
      <visualize>false</visualize>
      <contact>
        <collision>RFsrFR_frame_collision</collision>
      </contact>
      <plugin filename="libgazebo_ros_bumper.so" name="gazebo_nao_RFsrFR">
        <robotNamespace>nao_robot</robotNamespace>
        <alwaysOn>true</alwaysOn>
        <bumperTopicName>FSR/RFoot/FrontRight</bumperTopicName>
        <frameName>RFsrFR_frame</frameName>
      </plugin>
    </sensor>
  </gazebo>
  <gazebo reference="RFsrRL_frame">
    <mu1>0.5</mu1>
    <mu2>0.5</mu2>
    <selfCollide>false</selfCollide>
    <turnGravityOff>false</turnGravityOff>
    <fdir1>1 0 0</fdir1>
    <maxVel>0.1</maxVel>
    <minDepth>0.003</minDepth>
    <sensor name="RFsrRL" type="contact">
      <always_on>1</always_on>
      <update_rate>20</update_rate>
      <visualize>false</visualize>
      <contact>
        <collision>RFsrRL_frame_collision</collision>
      </contact>
      <plugin filename="libgazebo_ros_bumper.so" name="gazebo_nao_RFsrRL">
        <robotNamespace>nao_robot</robotNamespace>
        <alwaysOn>true</alwaysOn>
        <bumperTopicName>FSR/RFoot/RearLeft</bumperTopicName>
        <frameName>RFsrRL_frame</frameName>
      </plugin>
    </sensor>
  </gazebo>
  <gazebo reference="RFsrRR_frame">
    <mu1>0.5</mu1>
    <mu2>0.5</mu2>
    <selfCollide>false</selfCollide>
    <turnGravityOff>false</turnGravityOff>
    <fdir1>1 0 0</fdir1>
    <maxVel>0.1</maxVel>
    <minDepth>0.003</minDepth>
    <sensor name="RFsrRR" type="contact">
      <always_on>1</always_on>
      <update_rate>20</update_rate>
      <visualize>false</visualize>
      <contact>
        <collision>RFsrRR_frame_collision</collision>
      </contact>
      <plugin filename="libgazebo_ros_bumper.so" name="gazebo_nao_RFsrRR">
        <robotNamespace>nao_robot</robotNamespace>
        <alwaysOn>true</alwaysOn>
        <bumperTopicName>FSR/RFoot/RearRight</bumperTopicName>
        <frameName>RFsrRR_frame</frameName>
      </plugin>
    </sensor>
  </gazebo>
  <gazebo reference="LFsrFL_frame">
    <mu1>0.5</mu1>
    <mu2>0.5</mu2>
    <selfCollide>false</selfCollide>
    <turnGravityOff>false</turnGravityOff>
    <fdir1>1 0 0</fdir1>
    <maxVel>0.1</maxVel>
    <minDepth>0.003</minDepth>
    <sensor name="LFsrFL" type="contact">
      <always_on>1</always_on>
      <update_rate>20</update_rate>
      <visualize>false</visualize>
      <contact>
        <collision>LFsrFL_frame_collision</collision>
      </contact>
      <plugin filename="libgazebo_ros_bumper.so" name="gazebo_nao_LFsrFL">
        <robotNamespace>nao_robot</robotNamespace>
        <alwaysOn>true</alwaysOn>
        <bumperTopicName>FSR/LFoot/FrontLeft</bumperTopicName>
        <frameName>RFsrFL_frame</frameName>
      </plugin>
    </sensor>
  </gazebo>
  <gazebo reference="LFsrFR_frame">
    <mu1>0.5</mu1>
    <mu2>0.5</mu2>
    <selfCollide>false</selfCollide>
    <turnGravityOff>false</turnGravityOff>
    <fdir1>1 0 0</fdir1>
    <maxVel>0.1</maxVel>
    <minDepth>0.003</minDepth>
    <sensor name="LFsrFR" type="contact">
      <always_on>1</always_on>
      <update_rate>20</update_rate>
      <visualize>false</visualize>
      <contact>
        <collision>LFsrFR_frame_collision</collision>
      </contact>
      <plugin filename="libgazebo_ros_bumper.so" name="gazebo_nao_ros_bumper">
        <robotNamespace>nao_robot</robotNamespace>
        <alwaysOn>true</alwaysOn>
        <bumperTopicName>FSR/LFoot/FrontRight</bumperTopicName>
        <frameName>LFsrFR_frame</frameName>
      </plugin>
    </sensor>
  </gazebo>
  <gazebo reference="LFsrRL_frame">
    <mu1>0.5</mu1>
    <mu2>0.5</mu2>
    <selfCollide>false</selfCollide>
    <turnGravityOff>false</turnGravityOff>
    <fdir1>1 0 0</fdir1>
    <maxVel>0.1</maxVel>
    <minDepth>0.003</minDepth>
    <sensor name="LFsrRL" type="contact">
      <always_on>1</always_on>
      <update_rate>20</update_rate>
      <visualize>false</visualize>
      <contact>
        <collision>LFsrRL_frame_collision</collision>
      </contact>
      <plugin filename="libgazebo_ros_bumper.so" name="gazebo_nao_ros_bumper">
        <robotNamespace>nao_robot</robotNamespace>
        <alwaysOn>true</alwaysOn>
        <bumperTopicName>FSR/LFoot/RearLeft</bumperTopicName>
        <frameName>LFsrRL_frame</frameName>
      </plugin>
    </sensor>
  </gazebo>
  <gazebo reference="LFsrRR_frame">
    <mu1>0.5</mu1>
    <mu2>0.5</mu2>
    <selfCollide>false</selfCollide>
    <turnGravityOff>false</turnGravityOff>
    <fdir1>1 0 0</fdir1>
    <maxVel>0.1</maxVel>
    <minDepth>0.003</minDepth>
    <sensor name="LFsrRR" type="contact">
      <always_on>1</always_on>
      <update_rate>20</update_rate>
      <visualize>false</visualize>
      <contact>
        <collision>LFsrRR_frame_collision</collision>
      </contact>
      <plugin filename="libgazebo_ros_bumper.so" name="gazebo_nao_ros_bumper">
        <robotNamespace>nao_robot</robotNamespace>
        <alwaysOn>true</alwaysOn>
        <bumperTopicName>FSR/LFoot/RearRight</bumperTopicName>
        <frameName>LFsrRR_frame</frameName>
      </plugin>
    </sensor>
  </gazebo>
  <!--
    Sonars
-->
  <gazebo reference="LSonar_frame">
    <sensor name="LSonar" type="ray">
      <pose>0 0 0 0 0 0</pose>
      <update_rate>20</update_rate>
      <visualize>false</visualize>
      <ray>
        <scan>
          <horizontal>
            <samples>5</samples>
            <resolution>1</resolution>
            <min_angle>-0.2617993877991494</min_angle>
            <max_angle>0.2617993877991494</max_angle>
            <!--
          <min_angle>-0.10</min_angle>
          <max_angle>0.10</max_angle> 
-->
          </horizontal>
          <vertical>
            <samples>5</samples>
            <resolution>1</resolution>
            <min_angle>-0.13</min_angle>
            <max_angle>0.13</max_angle>
            <!--
          <min_angle>-0.2617993877991494</min_angle>
          <max_angle>0.2617993877991494</max_angle> 
-->
          </vertical>
        </scan>
        <range>
          <min>0.025</min>
          <max>2.55</max>
          <resolution>1</resolution>
        </range>
      </ray>
      <plugin filename="libgazebo_ros_range.so" name="gazebo_ros_range">
        <robotNamespace>nao_robot</robotNamespace>
        <gaussianNoise>0.05</gaussianNoise>
        <alwaysOn>true</alwaysOn>
        <updateRate>20</updateRate>
        <topicName>sonar_left</topicName>
        <frameName>LSonar_frame</frameName>
        <minRange>0.025</minRange>
        <maxRange>2.55</maxRange>
        <fov>0.5235987755982988</fov>
        <!--      <fov>0.1</fov> -->
        <radiation>ultrasound</radiation>
      </plugin>
    </sensor>
  </gazebo>
  <gazebo reference="RSonar_frame">
    <sensor name="RSonar" type="ray">
      <pose>0 0 0 0 0 0</pose>
      <update_rate>20</update_rate>
      <visualize>false</visualize>
      <ray>
        <scan>
          <horizontal>
            <samples>5</samples>
            <resolution>1</resolution>
            <min_angle>-0.2617993877991494</min_angle>
            <max_angle>0.2617993877991494</max_angle>
          </horizontal>
          <vertical>
            <samples>5</samples>
            <resolution>1</resolution>
            <min_angle>-0.13</min_angle>
            <max_angle>0.13</max_angle>
          </vertical>
        </scan>
        <range>
          <min>0.025</min>
          <max>2.55</max>
          <resolution>1</resolution>
        </range>
      </ray>
      <plugin filename="libgazebo_ros_range.so" name="gazebo_ros_range">
        <robotNamespace>nao_robot</robotNamespace>
        <gaussianNoise>0.05</gaussianNoise>
        <alwaysOn>true</alwaysOn>
        <updateRate>20</updateRate>
        <topicName>sonar_right</topicName>
        <frameName>RSonar_frame</frameName>
        <minRange>0.025</minRange>
        <maxRange>2.55</maxRange>
        <fov>0.5235987755982988</fov>
        <radiation>ultrasound</radiation>
      </plugin>
    </sensor>
  </gazebo>
  <!-- HEAD -->
  <transmission name="HeadYaw_Transmission">
    <type>transmission_interface/SimpleTransmission</type>
    <joint name="HeadYaw">
      <hardwareInterface>PositionJointInterface</hardwareInterface>
    </joint>
    <actuator name="HeadYaw_Motor">
      <!-- Dummy Values -->
      <hardwareInterface>PositionJointInterface</hardwareInterface>
      <mechanicalReduction>150.27</mechanicalReduction>
    </actuator>
  </transmission>
  <transmission name="HeadPitch_Transmission">
    <type>transmission_interface/SimpleTransmission</type>
    <joint name="HeadPitch">
      <hardwareInterface>PositionJointInterface</hardwareInterface>
    </joint>
    <actuator name="HeadPitch_Motor">
      <!-- Dummy Values -->
      <hardwareInterface>PositionJointInterface</hardwareInterface>
      <mechanicalReduction>173.22</mechanicalReduction>
    </actuator>
  </transmission>
  <transmission name="LShoulderPitch_Transmission">
    <type>transmission_interface/SimpleTransmission</type>
    <joint name="LShoulderPitch">
      <hardwareInterface>PositionJointInterface</hardwareInterface>
    </joint>
    <actuator name="LShoulderPitch_Motor">
      <hardwareInterface>PositionJointInterface</hardwareInterface>
      <mechanicalReduction>150.27</mechanicalReduction>
    </actuator>
  </transmission>
  <transmission name="LShoulderRoll_Transmission">
    <type>transmission_interface/SimpleTransmission</type>
    <joint name="LShoulderRoll">
      <hardwareInterface>PositionJointInterface</hardwareInterface>
    </joint>
    <actuator name="LShoulderRoll_Motor">
      <hardwareInterface>PositionJointInterface</hardwareInterface>
      <mechanicalReduction>173.22</mechanicalReduction>
    </actuator>
  </transmission>
  <transmission name="LElbowYaw_Transmission">
    <type>transmission_interface/SimpleTransmission</type>
    <joint name="LElbowYaw">
      <hardwareInterface>PositionJointInterface</hardwareInterface>
    </joint>
    <actuator name="LElbowYaw_Motor">
      <hardwareInterface>PositionJointInterface</hardwareInterface>
      <mechanicalReduction>150.27</mechanicalReduction>
    </actuator>
  </transmission>
  <transmission name="LElbowRoll_Transmission">
    <type>transmission_interface/SimpleTransmission</type>
    <joint name="LElbowRoll">
      <hardwareInterface>PositionJointInterface</hardwareInterface>
    </joint>
    <actuator name="LElbowRoll_Motor">
      <hardwareInterface>PositionJointInterface</hardwareInterface>
      <mechanicalReduction>173.22</mechanicalReduction>
    </actuator>
  </transmission>
  <transmission name="LWristYaw_Transmission">
    <type>transmission_interface/SimpleTransmission</type>
    <joint name="LWristYaw">
      <hardwareInterface>PositionJointInterface</hardwareInterface>
    </joint>
    <actuator name="LWristYaw_Motor">
      <hardwareInterface>PositionJointInterface</hardwareInterface>
      <mechanicalReduction>50.61</mechanicalReduction>
    </actuator>
  </transmission>
  <transmission name="LHand_Transmission">
    <type>transmission_interface/SimpleTransmission</type>
    <joint name="LHand">
      <hardwareInterface>PositionJointInterface</hardwareInterface>
    </joint>
    <actuator name="LHand_Motor">
      <hardwareInterface>PositionJointInterface</hardwareInterface>
      <mechanicalReduction>36.24</mechanicalReduction>
    </actuator>
  </transmission>
  <transmission name="RShoulderPitch_Transmission">
    <type>transmission_interface/SimpleTransmission</type>
    <joint name="RShoulderPitch">
      <hardwareInterface>PositionJointInterface</hardwareInterface>
    </joint>
    <actuator name="RShoulderPitch_Motor">
      <hardwareInterface>PositionJointInterface</hardwareInterface>
      <mechanicalReduction>150.27</mechanicalReduction>
    </actuator>
  </transmission>
  <transmission name="RShoulderRoll_Transmission">
    <type>transmission_interface/SimpleTransmission</type>
    <joint name="RShoulderRoll">
      <hardwareInterface>PositionJointInterface</hardwareInterface>
    </joint>
    <actuator name="RShoulderRoll_Motor">
      <hardwareInterface>PositionJointInterface</hardwareInterface>
      <mechanicalReduction>173.22</mechanicalReduction>
    </actuator>
  </transmission>
  <transmission name="RElbowYaw_Transmission">
    <type>transmission_interface/SimpleTransmission</type>
    <joint name="RElbowYaw">
      <hardwareInterface>PositionJointInterface</hardwareInterface>
    </joint>
    <actuator name="RElbowYaw_Motor">
      <hardwareInterface>PositionJointInterface</hardwareInterface>
      <mechanicalReduction>150.27</mechanicalReduction>
    </actuator>
  </transmission>
  <transmission name="RElbowRoll_Transmission">
    <type>transmission_interface/SimpleTransmission</type>
    <joint name="RElbowRoll">
      <hardwareInterface>PositionJointInterface</hardwareInterface>
    </joint>
    <actuator name="RElbowRoll_Motor">
      <hardwareInterface>PositionJointInterface</hardwareInterface>
      <mechanicalReduction>173.22</mechanicalReduction>
    </actuator>
  </transmission>
  <transmission name="RWristYaw_Transmission">
    <type>transmission_interface/SimpleTransmission</type>
    <joint name="RWristYaw">
      <hardwareInterface>PositionJointInterface</hardwareInterface>
    </joint>
    <actuator name="RWristYaw_Motor">
      <hardwareInterface>PositionJointInterface</hardwareInterface>
      <mechanicalReduction>50.61</mechanicalReduction>
    </actuator>
  </transmission>
  <transmission name="RHand_Transmission">
    <type>transmission_interface/SimpleTransmission</type>
    <joint name="RHand">
      <hardwareInterface>PositionJointInterface</hardwareInterface>
    </joint>
    <actuator name="RHand_Motor">
      <hardwareInterface>PositionJointInterface</hardwareInterface>
      <mechanicalReduction>36.24</mechanicalReduction>
    </actuator>
  </transmission>
  <transmission name="LHipYawPitch_Transmission">
    <type>transmission_interface/SimpleTransmission</type>
    <joint name="LHipYawPitch">
      <hardwareInterface>PositionJointInterface</hardwareInterface>
    </joint>
    <actuator name="LHipYawPitch_Motor">
      <!-- Dummy Values -->
      <hardwareInterface>PositionJointInterface</hardwareInterface>
      <mechanicalReduction>201.3</mechanicalReduction>
    </actuator>
  </transmission>
  <transmission name="LHipRoll_Transmission">
    <type>transmission_interface/SimpleTransmission</type>
    <joint name="LHipRoll">
      <hardwareInterface>PositionJointInterface</hardwareInterface>
    </joint>
    <actuator name="LHipRoll_Motor">
      <!-- Dummy Values -->
      <hardwareInterface>PositionJointInterface</hardwareInterface>
      <mechanicalReduction>201.3</mechanicalReduction>
    </actuator>
  </transmission>
  <transmission name="LHipPitch_Transmission">
    <type>transmission_interface/SimpleTransmission</type>
    <joint name="LHipPitch">
      <hardwareInterface>PositionJointInterface</hardwareInterface>
    </joint>
    <actuator name="LHipPitch_Motor">
      <!-- Dummy Values -->
      <hardwareInterface>PositionJointInterface</hardwareInterface>
      <mechanicalReduction>130.85</mechanicalReduction>
    </actuator>
  </transmission>
  <transmission name="LKneePitch_Transmission">
    <type>transmission_interface/SimpleTransmission</type>
    <joint name="LKneePitch">
      <hardwareInterface>PositionJointInterface</hardwareInterface>
    </joint>
    <actuator name="LKneePitch_Motor">
      <!-- Dummy Values -->
      <hardwareInterface>PositionJointInterface</hardwareInterface>
      <mechanicalReduction>130.85</mechanicalReduction>
    </actuator>
  </transmission>
  <transmission name="LAnklePitch_Transmission">
    <type>transmission_interface/SimpleTransmission</type>
    <joint name="LAnklePitch">
      <hardwareInterface>PositionJointInterface</hardwareInterface>
    </joint>
    <actuator name="LAnklePitch_Motor">
      <!-- Dummy Values -->
      <hardwareInterface>PositionJointInterface</hardwareInterface>
      <mechanicalReduction>130.85</mechanicalReduction>
    </actuator>
  </transmission>
  <transmission name="LAnkleRoll_Transmission">
    <type>transmission_interface/SimpleTransmission</type>
    <joint name="LAnkleRoll">
      <hardwareInterface>PositionJointInterface</hardwareInterface>
    </joint>
    <actuator name="LAnkleRoll_Motor">
      <!-- Dummy Values -->
      <hardwareInterface>PositionJointInterface</hardwareInterface>
      <mechanicalReduction>201.3</mechanicalReduction>
    </actuator>
  </transmission>
  <transmission name="RHipYawPitch_Transmission">
    <type>transmission_interface/SimpleTransmission</type>
    <joint name="RHipYawPitch">
      <hardwareInterface>PositionJointInterface</hardwareInterface>
    </joint>
    <actuator name="RHipYawPitch_Motor">
      <!-- Dummy Values -->
      <hardwareInterface>PositionJointInterface</hardwareInterface>
      <mechanicalReduction>201.3</mechanicalReduction>
    </actuator>
  </transmission>
  <transmission name="RHipRoll_Transmission">
    <type>transmission_interface/SimpleTransmission</type>
    <joint name="RHipRoll">
      <hardwareInterface>PositionJointInterface</hardwareInterface>
    </joint>
    <actuator name="RHipRoll_Motor">
      <!-- Dummy Values -->
      <hardwareInterface>PositionJointInterface</hardwareInterface>
      <mechanicalReduction>201.3</mechanicalReduction>
    </actuator>
  </transmission>
  <transmission name="RHipPitch_Transmission">
    <type>transmission_interface/SimpleTransmission</type>
    <joint name="RHipPitch">
      <hardwareInterface>PositionJointInterface</hardwareInterface>
    </joint>
    <actuator name="RHipPitch_Motor">
      <!-- Dummy Values -->
      <hardwareInterface>PositionJointInterface</hardwareInterface>
      <mechanicalReduction>130.85</mechanicalReduction>
    </actuator>
  </transmission>
  <transmission name="RKneePitch_Transmission">
    <type>transmission_interface/SimpleTransmission</type>
    <joint name="RKneePitch">
      <hardwareInterface>PositionJointInterface</hardwareInterface>
    </joint>
    <actuator name="RKneePitch_Motor">
      <!-- Dummy Values -->
      <hardwareInterface>PositionJointInterface</hardwareInterface>
      <mechanicalReduction>130.85</mechanicalReduction>
    </actuator>
  </transmission>
  <transmission name="RAnklePitch_Transmission">
    <type>transmission_interface/SimpleTransmission</type>
    <joint name="RAnklePitch">
      <hardwareInterface>PositionJointInterface</hardwareInterface>
    </joint>
    <actuator name="RAnklePitch_Motor">
      <!-- Dummy Values -->
      <hardwareInterface>PositionJointInterface</hardwareInterface>
      <mechanicalReduction>130.85</mechanicalReduction>
    </actuator>
  </transmission>
  <transmission name="RAnkleRoll_Transmission">
    <type>transmission_interface/SimpleTransmission</type>
    <joint name="RAnkleRoll">
      <hardwareInterface>PositionJointInterface</hardwareInterface>
    </joint>
    <actuator name="RAnkleRoll_Motor">
      <!-- Dummy Values -->
      <hardwareInterface>PositionJointInterface</hardwareInterface>
      <mechanicalReduction>201.3</mechanicalReduction>
    </actuator>
  </transmission>
</robot>
